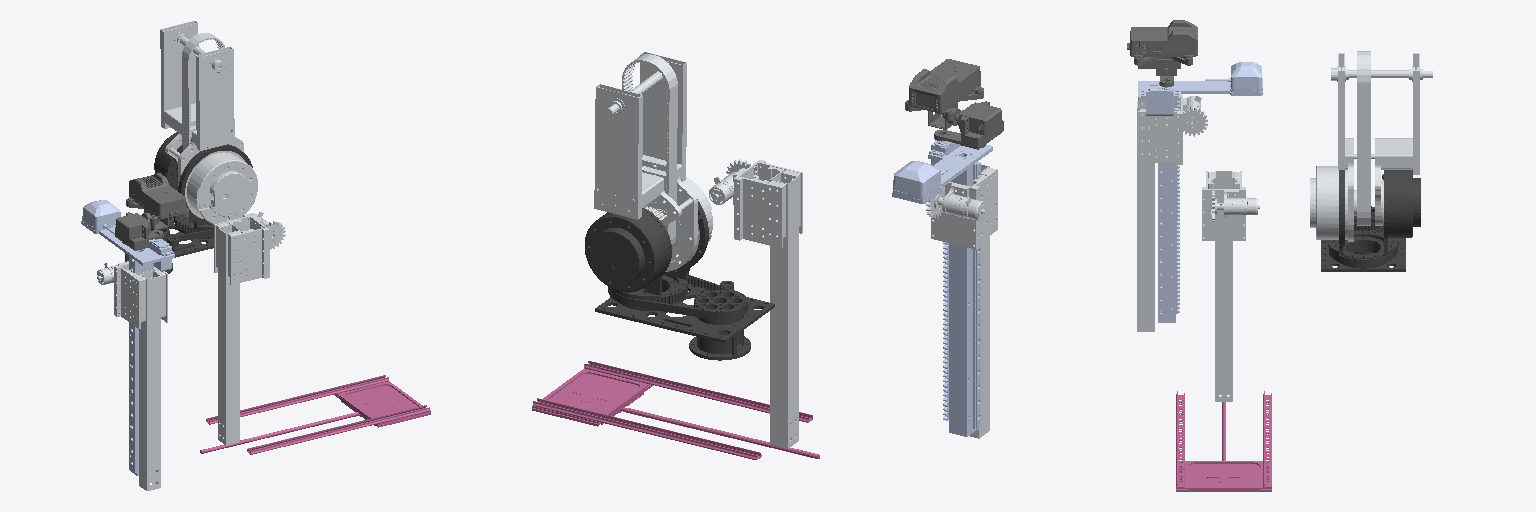
--- Render facts (derived) ---
Views: 3 orthographic renders of the robot side by side, from view 1: azimuth 30°, elevation 25°; view 2: azimuth 150°, elevation 25°; view 3: azimuth 270°, elevation 25°.
Robot: engineer — 81 links, 80 joints (9 revolute, 64 continuous, 2 prismatic, 5 fixed); root link base_link; default pose: all joints at 0.
Visible links, largest first — view 1: link2, base_link, fpv_base_link, swiping_card, mast, fpv_pitch, link1, fpv_yaw, arm_base_link; view 2: link2, base_link, mast, swiping_card, link1, arm_base_link, fpv_base_link, fpv_pitch, fpv_yaw; view 3: link2, mast, fpv_base_link, base_link, swiping_card, link1, fpv_pitch, arm_base_link.
Boxes of the visible links, x1,y1,x2,y2 form: link2: (160,21,257,223); base_link: (214,212,285,445); fpv_base_link: (97,261,167,490); swiping_card: (200,375,430,454); mast: (81,200,174,475); fpv_pitch: (126,173,188,229); link1: (154,132,252,232); fpv_yaw: (115,212,163,250); arm_base_link: (125,217,213,273); link2: (594,52,712,271); base_link: (709,159,802,448); mast: (892,140,992,436); swiping_card: (532,361,819,459); link1: (585,199,708,303); arm_base_link: (595,275,774,360); fpv_base_link: (926,164,997,438); fpv_pitch: (905,59,983,129); fpv_yaw: (934,101,1003,149); link2: (1310,51,1432,241); mast: (1138,62,1262,322); fpv_base_link: (1137,95,1207,331); base_link: (1202,171,1259,401); swiping_card: (1176,391,1271,491); link1: (1328,170,1420,258); fpv_pitch: (1127,20,1197,75); arm_base_link: (1321,206,1405,271).
Size in the robot's own frame: 0.5608 by 0.4339 by 0.5853 metres.
9 mesh visuals loaded from 13 distinct referenced files (8 binary STL); not drawn: 7 (reference not matched to a file when rendering).

URDF robot description (engineer):
<?xml version="1.0" ?>
<!-- =================================================================================== -->
<!-- |    This document was autogenerated by xacro from [local-path]/catkin_ws/src/sp_description/urdf/engineer/engineer.xacro | -->
<!-- |    EDITING THIS FILE BY HAND IS NOT RECOMMENDED                                 | -->
<!-- =================================================================================== -->
<robot name="engineer">
    <transmission name="trans_joint1">
        <type>transmission_interface/SimpleTransmission</type>
        <actuator name="joint1_motor">
            <mechanicalReduction>1</mechanicalReduction>
            <hardwareInterface>hardware_interface/PositionJointInterface</hardwareInterface>
        </actuator>
        <joint name="joint1">
            <hardwareInterface>hardware_interface/PositionJointInterface</hardwareInterface>
        </joint>
    </transmission>
    <transmission name="trans_joint2">
        <type>transmission_interface/SimpleTransmission</type>
        <actuator name="joint2_motor">
            <mechanicalReduction>1</mechanicalReduction>
            <hardwareInterface>hardware_interface/PositionJointInterface</hardwareInterface>
        </actuator>
        <joint name="joint2">
            <hardwareInterface>hardware_interface/PositionJointInterface</hardwareInterface>
        </joint>
    </transmission>
    <transmission name="trans_joint3">
        <type>transmission_interface/SimpleTransmission</type>
        <actuator name="joint3_motor">
            <mechanicalReduction>1</mechanicalReduction>
            <hardwareInterface>hardware_interface/PositionJointInterface</hardwareInterface>
        </actuator>
        <joint name="joint3">
            <hardwareInterface>hardware_interface/PositionJointInterface</hardwareInterface>
        </joint>
    </transmission>
    <!--base link-->
    <link name="base_link">
        <inertial>
            <origin rpy="0 0 0" xyz="-0.0113738412352606 -0.0179737884364999 0.0629667320671845" />
            <mass value="12.478309558197" />
            <inertia ixx="0.0306729834251133" ixy="2.06989089203648E-05" ixz="-4.24062281514238E-06" iyy="0.0340671825531538" iyz="-3.89196837584769E-05" izz="0.0558921594392679" />
        </inertial>
        <visual>
            <origin rpy="0 0 0" xyz="0 0 0" />
            <geometry>
                <mesh filename="package://sp_description/meshes/engineer_chassis/base_link.STL" />
            </geometry>
            <material name="">
                <color rgba="0.898039215686275 0.917647058823529 0.929411764705882 1" />
            </material>
        </visual>
        <collision>
            <origin rpy="0 0 0" xyz="0 0 0" />
            <geometry>
                <box size="0.6 0.6 0.15" />
            </geometry>
        </collision>
        <collision>
            <origin rpy="0 0 0" xyz="0.2375 0.0 0.11" />
            <geometry>
                <box size="0.125 0.6 0.07" />
            </geometry>
        </collision>
        <collision>
            <origin rpy="0 0 0" xyz="-0.205 0.0 0.11" />
            <geometry>
                <box size="0.19 0.6 0.07" />
            </geometry>
        </collision>
        <collision>
            <origin rpy="0 0 0" xyz="0.0325 0.1965 0.13" />
            <geometry>
                <box size="0.285 0.207 0.11" />
            </geometry>
        </collision>
        <collision>
            <origin rpy="0 0 0" xyz="0.0325 -0.2135 0.13" />
            <geometry>
                <box size="0.285 0.173 0.11" />
            </geometry>
        </collision>
        <collision>
            <origin rpy="0 0 0" xyz="0.0 0.2 0.21" />
            <geometry>
                <box size="0.23 0.12 0.05" />
            </geometry>
        </collision>
        <collision>
            <origin rpy="0 0 0" xyz="0.0 -0.1895 0.235" />
            <geometry>
                <box size="0.32 0.125 0.1" />
            </geometry>
        </collision>
        <collision>
            <origin rpy="0 0 0" xyz="0.0 0.098 0.25" />
            <geometry>
                <box rpy="0 0 0" size="0.19 0.01 0.13" />
            </geometry>
        </collision>
        <collision>
            <origin rpy="0 0 0" xyz="0.0 -0.132 0.3" />
            <geometry>
                <box size="0.19 0.01 0.03" />
            </geometry>
        </collision>
    </link>
    <!--  link  -->
    <link name="left_front_wheel">
        <visual>
            <geometry>
                <mesh filename="package://sp_description/meshes/common/mecanum_wheel/right_threaded_mecanum_wheel.stl" scale="0.001 0.001 0.001" />
            </geometry>
        </visual>
        <inertial>
            <mass value="0.59" />
            <inertia ixx="1.416e-3" ixy="0.0" ixz="0.0" iyy="2.749e-3" iyz="0.0" izz="1.416e-3" />
        </inertial>
    </link>
    <!--  joint  -->
    <joint name="left_front_wheel_joint" type="revolute">
        <axis xyz="0 1 0" />
        <origin rpy="0 0 0" xyz="0.19727 0.223 -0.00111" />
        <!--      limit not work while type="continuous"-->
        <limit effort="10" lower="-1e9" upper="1e9" velocity="70" />
        <dynamics damping="0.0" friction="0.05" />
        <parent link="base_link" />
        <child link="left_front_wheel" />
    </joint>
    <!--  link  -->
    <link name="left_front_roller_0">
        <collision>
            <geometry>
                <sphere radius="0.009" />
            </geometry>
        </collision>
        <inertial>
            <mass value="0.036" />
            <inertia ixx="3128e-9" ixy="0.0" ixz="0.0" iyy="3128e-9" iyz="0.0" izz="3128e-9" />
            <origin xyz="0 0 0" rpy="0 0 0" />
        </inertial>
    </link>
    <joint name="left_front_roller_0_joint" type="continuous">
        <origin rpy="0 0 0" xyz="4.117874862132975e-18 0 -0.06725" />
        <axis xyz="0.7071067811865476 -0.7071067811865476 0.0" />
        <dynamics damping="0.0" friction="0.001" />
        <parent link="left_front_wheel" />
        <child link="left_front_roller_0" />
    </joint>
    <gazebo reference="left_front_roller_0">
        <mu1 value="2000.0" />
        <mu2 value="2000.0" />
        <kp value="1000000.0" />
        <kd value="100.0" />
        <material>Gazebo/Black</material>
        <plugin name="gazebo_ros_control">
            <robotNamespace>/</robotNamespace>
        </plugin>
    </gazebo>
    <!--  link  -->
    <link name="left_front_roller_1">
        <collision>
            <geometry>
                <sphere radius="0.009" />
            </geometry>
        </collision>
        <inertial>
            <mass value="0.036" />
            <inertia ixx="3128e-9" ixy="0.0" ixz="0.0" iyy="3128e-9" iyz="0.0" izz="3128e-9" />
            <origin xyz="0 0 0" rpy="0 0 0" />
        </inertial>
    </link>
    <joint name="left_front_roller_1_joint" type="continuous">
        <origin rpy="0 0 0" xyz="0.025754155985525513 0 -0.06212315147731336" />
        <axis xyz="0.653200024955946 -0.7071067811865476 0.27079462217250855" />
        <dynamics damping="0.0" friction="0.001" />
        <parent link="left_front_wheel" />
        <child link="left_front_roller_1" />
    </joint>
    <gazebo reference="left_front_roller_1">
        <mu1 value="2000.0" />
        <mu2 value="2000.0" />
        <kp value="1000000.0" />
        <kd value="100.0" />
        <material>Gazebo/Black</material>
    </gazebo>
    <!--  link  -->
    <link name="left_front_roller_2">
        <collision>
            <geometry>
                <sphere radius="0.009" />
            </geometry>
        </collision>
        <inertial>
            <mass value="0.036" />
            <inertia ixx="3128e-9" ixy="0.0" ixz="0.0" iyy="3128e-9" iyz="0.0" izz="3128e-9" />
            <origin xyz="0 0 0" rpy="0 0 0" />
        </inertial>
    </link>
    <joint name="left_front_roller_2_joint" type="continuous">
        <origin rpy="0 0 0" xyz="0.04758154151551398 0 -0.04752430333005861" />
        <axis xyz="0.49969899116506866 -0.7071067811865476 0.5003008277312888" />
        <dynamics damping="0.0" friction="0.001" />
        <parent link="left_front_wheel" />
        <child link="left_front_roller_2" />
    </joint>
    <gazebo reference="left_front_roller_2">
        <mu1 value="2000.0" />
        <mu2 value="2000.0" />
        <kp value="1000000.0" />
        <kd value="100.0" />
        <material>Gazebo/Black</material>
    </gazebo>
    <!--  link  -->
    <link name="left_front_roller_3">
        <collision>
            <geometry>
                <sphere radius="0.009" />
            </geometry>
        </collision>
        <inertial>
            <mass value="0.036" />
            <inertia ixx="3128e-9" ixy="0.0" ixz="0.0" iyy="3128e-9" iyz="0.0" izz="3128e-9" />
            <origin xyz="0 0 0" rpy="0 0 0" />
        </inertial>
    </link>
    <joint name="left_front_roller_3_joint" type="continuous">
        <origin rpy="0 0 0" xyz="0.062154106054395655 0 -0.02567936137404779" />
        <axis xyz="0.2700081868271984 -0.7071067811865476 0.6535254999204613" />
        <dynamics damping="0.0" friction="0.001" />
        <parent link="left_front_wheel" />
        <child link="left_front_roller_3" />
    </joint>
    <gazebo reference="left_front_roller_3">
        <mu1 value="2000.0" />
        <mu2 value="2000.0" />
        <kp value="1000000.0" />
        <kd value="100.0" />
        <material>Gazebo/Black</material>
    </gazebo>
    <!--  link  -->
    <link name="left_front_roller_4">
        <collision>
            <geometry>
                <sphere radius="0.009" />
            </geometry>
        </collision>
        <inertial>
            <mass value="0.036" />
            <inertia ixx="3128e-9" ixy="0.0" ixz="0.0" iyy="3128e-9" iyz="0.0" izz="3128e-9" />
            <origin xyz="0 0 0" rpy="0 0 0" />
        </inertial>
    </link>
    <joint name="left_front_roller_4_joint" type="continuous">
        <origin rpy="0 0 0" xyz="0.06724995128312455 0 8.094700349681064e-05" />
        <axis xyz="-0.0008511252801386329 -0.7071067811865476 0.7071062689481388" />
        <dynamics damping="0.0" friction="0.001" />
        <parent link="left_front_wheel" />
        <child link="left_front_roller_4" />
    </joint>
    <gazebo reference="left_front_roller_4">
        <mu1 value="2000.0" />
        <mu2 value="2000.0" />
        <kp value="1000000.0" />
        <kd value="100.0" />
        <material>Gazebo/Black</material>
    </gazebo>
    <!--  link  -->
    <link name="left_front_roller_5">
        <collision>
            <geometry>
                <sphere radius="0.009" />
            </geometry>
        </collision>
        <inertial>
            <mass value="0.036" />
            <inertia ixx="3128e-9" ixy="0.0" ixz="0.0" iyy="3128e-9" iyz="0.0" izz="3128e-9" />
            <origin xyz="0 0 0" rpy="0 0 0" />
        </inertial>
    </link>
    <joint name="left_front_roller_5_joint" type="continuous">
        <origin rpy="0 0 0" xyz="0.06209210689440703 0 0.025828913283634913" />
        <axis xyz="-0.27158066518271434 -0.7071067811865476 0.6528736036162853" />
        <dynamics damping="0.0" friction="0.001" />
        <parent link="left_front_wheel" />
        <child link="left_front_roller_5" />
    </joint>
    <gazebo reference="left_front_roller_5">
        <mu1 value="2000.0" />
        <mu2 value="2000.0" />
        <kp value="1000000.0" />
        <kd value="100.0" />
        <material>Gazebo/Black</material>
    </gazebo>
    <!--  link  -->
    <link name="left_front_roller_6">
        <collision>
            <geometry>
                <sphere radius="0.009" />
            </geometry>
        </collision>
        <inertial>
            <mass value="0.036" />
            <inertia ixx="3128e-9" ixy="0.0" ixz="0.0" iyy="3128e-9" iyz="0.0" izz="3128e-9" />
            <origin xyz="0 0 0" rpy="0 0 0" />
        </inertial>
    </link>
    <joint name="left_front_roller_6_joint" type="continuous">
        <origin rpy="0 0 0" xyz="0.04746699629001391 0 0.04763871076345167" />
        <axis xyz="-0.5009019394471561 -0.7071067811865476 0.499096430620454" />
        <dynamics damping="0.0" friction="0.001" />
        <parent link="left_front_wheel" />
        <child link="left_front_roller_6" />
    </joint>
    <gazebo reference="left_front_roller_6">
        <mu1 value="2000.0" />
        <mu2 value="2000.0" />
        <kp value="1000000.0" />
        <kd value="100.0" />
        <material>Gazebo/Black</material>
    </gazebo>
    <!--  link  -->
    <link name="left_front_roller_7">
        <collision>
            <geometry>
                <sphere radius="0.009" />
            </geometry>
        </collision>
        <inertial>
            <mass value="0.036" />
            <inertia ixx="3128e-9" ixy="0.0" ixz="0.0" iyy="3128e-9" iyz="0.0" izz="3128e-9" />
            <origin xyz="0 0 0" rpy="0 0 0" />
        </inertial>
    </link>
    <joint name="left_front_roller_7_joint" type="continuous">
        <origin rpy="0 0 0" xyz="0.02560452955756635 0 0.06218497058080603" />
        <axis xyz="-0.6538500280382736 -0.7071067811865476 0.2692213602861942" />
        <dynamics damping="0.0" friction="0.001" />
        <parent link="left_front_wheel" />
        <child link="left_front_roller_7" />
    </joint>
    <gazebo reference="left_front_roller_7">
        <mu1 value="2000.0" />
        <mu2 value="2000.0" />
        <kp value="1000000.0" />
        <kd value="100.0" />
        <material>Gazebo/Black</material>
    </gazebo>
    <!--  link  -->
    <link name="left_front_roller_8">
        <collision>
            <geometry>
                <sphere radius="0.009" />
            </geometry>
        </collision>
        <inertial>
            <mass value="0.036" />
            <inertia ixx="3128e-9" ixy="0.0" ixz="0.0" iyy="3128e-9" iyz="0.0" izz="3128e-9" />
            <origin xyz="0 0 0" rpy="0 0 0" />
        </inertial>
    </link>
    <joint name="left_front_roller_8_joint" type="continuous">
        <origin rpy="0 0 0" xyz="-0.0001618938897152502 0 0.06724980513256877" />
        <axis xyz="-0.7071047322336546 -0.7071067811865476 -0.0017022493271422689" />
        <dynamics damping="0.0" friction="0.001" />
        <parent link="left_front_wheel" />
        <child link="left_front_roller_8" />
    </joint>
    <gazebo reference="left_front_roller_8">
        <mu1 value="2000.0" />
        <mu2 value="2000.0" />
        <kp value="1000000.0" />
        <kd value="100.0" />
        <material>Gazebo/Black</material>
    </gazebo>
    <!--  link  -->
    <link name="left_front_roller_9">
        <collision>
            <geometry>
                <sphere radius="0.009" />
            </geometry>
        </collision>
        <inertial>
            <mass value="0.036" />
            <inertia ixx="3128e-9" ixy="0.0" ixz="0.0" iyy="3128e-9" iyz="0.0" izz="3128e-9" />
            <origin xyz="0 0 0" rpy="0 0 0" />
        </inertial>
    </link>
    <joint name="left_front_roller_9_joint" type="continuous">
        <origin rpy="0 0 0" xyz="-0.025903633160065442 0 0.062060972350654955" />
        <axis xyz="-0.6525462363744081 -0.7071067811865476 -0.2723663147189738" />
        <dynamics damping="0.0" friction="0.001" />
        <parent link="left_front_wheel" />
        <child link="left_front_roller_9" />
    </joint>
    <gazebo reference="left_front_roller_9">
        <mu1 value="2000.0" />
        <mu2 value="2000.0" />
        <kp value="1000000.0" />
        <kd value="100.0" />
        <material>Gazebo/Black</material>
    </gazebo>
    <!--  link  -->
    <link name="left_front_roller_10">
        <collision>
            <geometry>
                <sphere radius="0.009" />
            </geometry>
        </collision>
        <inertial>
            <mass value="0.036" />
            <inertia ixx="3128e-9" ixy="0.0" ixz="0.0" iyy="3128e-9" iyz="0.0" izz="3128e-9" />
            <origin xyz="0 0 0" rpy="0 0 0" />
        </inertial>
    </link>
    <joint name="left_front_roller_10_joint" type="continuous">
        <origin rpy="0 0 0" xyz="-0.04769581099104322 0 0.04740962047840798" />
        <axis xyz="-0.49849314697045194 -0.7071067811865476 -0.5015023254417625" />
        <dynamics damping="0.0" friction="0.001" />
        <parent link="left_front_wheel" />
        <child link="left_front_roller_10" />
    </joint>
    <gazebo reference="left_front_roller_10">
        <mu1 value="2000.0" />
        <mu2 value="2000.0" />
        <kp value="1000000.0" />
        <kd value="100.0" />
        <material>Gazebo/Black</material>
    </gazebo>
    <!--  link  -->
    <link name="left_front_roller_11">
        <collision>
            <geometry>
                <sphere radius="0.009" />
            </geometry>
        </collision>
        <inertial>
            <mass value="0.036" />
            <inertia ixx="3128e-9" ixy="0.0" ixz="0.0" iyy="3128e-9" iyz="0.0" izz="3128e-9" />
            <origin xyz="0 0 0" rpy="0 0 0" />
        </inertial>
    </link>
    <joint name="left_front_roller_11_joint" type="continuous">
        <origin rpy="0 0 0" xyz="-0.06221574501182705 0 0.02552966064449972" />
        <axis xyz="-0.2684341436894733 -0.7071067811865476 -0.6541736088391974" />
        <dynamics damping="0.0" friction="0.001" />
        <parent link="left_front_wheel" />
        <child link="left_front_roller_11" />
    </joint>
    <gazebo reference="left_front_roller_11">
        <mu1 value="2000.0" />
        <mu2 value="2000.0" />
        <kp value="1000000.0" />
        <kd value="100.0" />
        <material>Gazebo/Black</material>
    </gazebo>
    <!--  link  -->
    <link name="left_front_roller_12">
        <collision>
            <geometry>
                <sphere radius="0.009" />
            </geometry>
        </collision>
        <inertial>
            <mass value="0.036" />
            <inertia ixx="3128e-9" ixy="0.0" ixz="0.0" iyy="3128e-9" iyz="0.0" izz="3128e-9" />
            <origin xyz="0 0 0" rpy="0 0 0" />
        </inertial>
    </link>
    <joint name="left_front_roller_12_joint" type="continuous">
        <origin rpy="0 0 0" xyz="-0.06724956154854442 0 -0.00024284054137712588" />
        <axis xyz="0.002553370907877698 -0.7071067811865476 -0.7071021710453214" />
        <dynamics damping="0.0" friction="0.001" />
        <parent link="left_front_wheel" />
        <child link="left_front_roller_12" />
    </joint>
    <gazebo reference="left_front_roller_12">
        <mu1 value="2000.0" />
        <mu2 value="2000.0" />
        <kp value="1000000.0" />
        <kd value="100.0" />
        <material>Gazebo/Black</material>
    </gazebo>
    <!--  link  -->
    <link name="left_front_roller_13">
        <collision>
            <geometry>
                <sphere radius="0.009" />
            </geometry>
        </collision>
        <inertial>
            <mass value="0.036" />
            <inertia ixx="3128e-9" ixy="0.0" ixz="0.0" iyy="3128e-9" iyz="0.0" izz="3128e-9" />
            <origin xyz="0 0 0" rpy="0 0 0" />
        </inertial>
    </link>
    <joint name="left_front_roller_13_joint" type="continuous">
        <origin rpy="0 0 0" xyz="-0.062029747891165755 0 -0.025978315506560806" />
        <axis xyz="0.2731515696430154 -0.7071067811865476 -0.6522179237046135" />
        <dynamics damping="0.0" friction="0.001" />
        <parent link="left_front_wheel" />
        <child link="left_front_roller_13" />
    </joint>
    <gazebo reference="left_front_roller_13">
        <mu1 value="2000.0" />
        <mu2 value="2000.0" />
        <kp value="1000000.0" />
        <kd value="100.0" />
        <material>Gazebo/Black</material>
    </gazebo>
    <!--  link  -->
    <link name="left_front_roller_14">
        <collision>
            <geometry>
                <sphere radius="0.009" />
            </geometry>
        </collision>
        <inertial>
            <mass value="0.036" />
            <inertia ixx="3128e-9" ixy="0.0" ixz="0.0" iyy="3128e-9" iyz="0.0" izz="3128e-9" />
            <origin xyz="0 0 0" rpy="0 0 0" />
        </inertial>
    </link>
    <joint name="left_front_roller_14_joint" type="continuous">
        <origin rpy="0 0 0" xyz="-0.047352175978368535 0 -0.04775284211556018" />
        <axis xyz="0.5021019848452515 -0.7071067811865476 -0.49788914108911725" />
        <dynamics damping="0.0" friction="0.001" />
        <parent link="left_front_wheel" />
        <child link="left_front_roller_14" />
    </joint>
    <gazebo reference="left_front_roller_14">
        <mu1 value="2000.0" />
        <mu2 value="2000.0" />
        <kp value="1000000.0" />
        <kd value="100.0" />
        <material>Gazebo/Black</material>
    </gazebo>
    <!--  link  -->
    <link name="left_front_roller_15">
        <collision>
            <geometry>
                <sphere radius="0.009" />
            </geometry>
        </collision>
        <inertial>
            <mass value="0.036" />
            <inertia ixx="3128e-9" ixy="0.0" ixz="0.0" iyy="3128e-9" iyz="0.0" izz="3128e-9" />
            <origin xyz="0 0 0" rpy="0 0 0" />
        </inertial>
    </link>
    <joint name="left_front_roller_15_joint" type="continuous">
        <origin rpy="0 0 0" xyz="-0.025454754743320145 0 -0.06224642930287183" />
        <axis xyz="0.6544962418544192 -0.7071067811865476 -0.2676465381775779" />
        <dynamics damping="0.0" friction="0.001" />
        <parent link="left_front_wheel" />
        <child link="left_front_roller_15" />
    </joint>
    <gazebo reference="left_front_roller_15">
        <mu1 value="2000.0" />
        <mu2 value="2000.0" />
        <kp value="1000000.0" />
        <kd value="100.0" />
        <material>Gazebo/Black</material>
    </gazebo>
    <!--  link  -->
    <link name="right_front_wheel">
        <visual>
            <geometry>
                <mesh filename="package://sp_description/meshes/common/mecanum_wheel/left_threaded_mecanum_wheel.stl" scale="0.001 0.001 0.001" />
            </geometry>
        </visual>
        <inertial>
            <mass value="0.59" />
            <inertia ixx="1.416e-3" ixy="0.0" ixz="0.0" iyy="2.749e-3" iyz="0.0" izz="1.416e-3" />
        </inertial>
    </link>
    <!--  joint  -->
    <joint name="right_front_wheel_joint" type="revolute">
        <axis xyz="0 1 0" />
        <origin rpy="0 0 0" xyz="0.19727 -0.223 -0.00111" />
        <!--      limit not work while type="continuous"-->
        <limit effort="10" lower="-1e9" upper="1e9" velocity="70" />
        <dynamics damping="0.0" friction="0.05" />
        <parent link="base_link" />
        <child link="right_front_wheel" />
    </joint>
    <!--  link  -->
    <link name="right_front_roller_0">
        <collision>
            <geometry>
                <sphere radius="0.009" />
            </geometry>
        </collision>
        <inertial>
            <mass value="0.036" />
            <inertia ixx="3128e-9" ixy="0.0" ixz="0.0" iyy="3128e-9" iyz="0.0" izz="3128e-9" />
            <origin xyz="0 0 0" rpy="0 0 0" />
        </inertial>
    </link>
    <joint name="right_front_roller_0_joint" type="continuous">
        <origin rpy="0 0 0" xyz="4.117874862132975e-18 0 -0.06725" />
        <axis xyz="0.7071067811865476 0.7071067811865476 0.0" />
        <dynamics damping="0.0" friction="0.001" />
        <parent link="right_front_wheel" />
        <child link="right_front_roller_0" />
    </joint>
    <gazebo reference="right_front_roller_0">
        <mu1 value="2000.0" />
        <mu2 value="2000.0" />
        <kp value="1000000.0" />
        <kd value="100.0" />
        <material>Gazebo/Black</material>
    </gazebo>
    <!--  link  -->
    <link name="right_front_roller_1">
        <collision>
            <geometry>
                <sphere radius="0.009" />
            </geometry>
        </collision>
        <inertial>
            <mass value="0.036" />
            <inertia ixx="3128e-9" ixy="0.0" ixz="0.0" iyy="3128e-9" iyz="0.0" izz="3128e-9" />
            <origin xyz="0 0 0" rpy="0 0 0" />
        </inertial>
    </link>
    <joint name="right_front_roller_1_joint" type="continuous">
        <origin rpy="0 0 0" xyz="0.025754155985525513 0 -0.06212315147731336" />
        <axis xyz="0.653200024955946 0.7071067811865476 0.27079462217250855" />
        <dynamics damping="0.0" friction="0.001" />
        <parent link="right_front_wheel" />
        <child link="right_front_roller_1" />
    </joint>
    <gazebo reference="right_front_roller_1">
        <mu1 value="2000.0" />
        <mu2 value="2000.0" />
        <kp value="1000000.0" />
        <kd value="100.0" />
        <material>Gazebo/Black</material>
    </gazebo>
    <!--  link  -->
    <link name="right_front_roller_2">
        <collision>
            <geometry>
                <sphere radius="0.009" />
            </geometry>
        </collision>
        <inertial>
            <mass value="0.036" />
            <inertia ixx="3128e-9" ixy="0.0" ixz="0.0" iyy="3128e-9" iyz="0.0" izz="3128e-9" />
            <origin xyz="0 0 0" rpy="0 0 0" />
        </inertial>
    </link>
    <joint name="right_front_roller_2_joint" type="continuous">
        <origin rpy="0 0 0" xyz="0.04758154151551398 0 -0.04752430333005861" />
        <axis xyz="0.49969899116506866 0.7071067811865476 0.5003008277312888" />
        <dynamics damping="0.0" friction="0.001" />
        <parent link="right_front_wheel" />
        <child link="right_front_roller_2" />
    </joint>
    <gazebo reference="right_front_roller_2">
        <mu1 value="2000.0" />
        <mu2 value="2000.0" />
        <kp value="1000000.0" />
        <kd value="100.0" />
        <material>Gazebo/Black</material>
    </gazebo>
    <!--  link  -->
    <link name="right_front_roller_3">
        <collision>
            <geometry>
                <sphere radius="0.009" />
            </geometry>
        </collision>
        <inertial>
            <mass value="0.036" />
            <inertia ixx="3128e-9" ixy="0.0" ixz="0.0" iyy="3128e-9" iyz="0.0" izz="3128e-9" />
            <origin xyz="0 0 0" rpy="0 0 0" />
        </inertial>
    </link>
    <joint name="right_front_roller_3_joint" type="continuous">
        <origin rpy="0 0 0" xyz="0.062154106054395655 0 -0.02567936137404779" />
        <axis xyz="0.2700081868271984 0.7071067811865476 0.6535254999204613" />
        <dynamics damping="0.0" friction="0.001" />
        <parent link="right_front_wheel" />
        <child link="right_front_roller_3" />
    </joint>
    <gazebo reference="right_front_roller_3">
        <mu1 value="2000.0" />
        <mu2 value="2000.0" />
        <kp value="1000000.0" />
        <kd value="100.0" />
        <material>Gazebo/Black</material>
    </gazebo>
    <!--  link  -->
    <link name="right_front_roller_4">
        <collision>
            <geometry>
                <sphere radius="0.009" />
            </geometry>
        </collision>
        <inertial>
            <mass value="0.036" />
            <inertia ixx="3128e-9" ixy="0.0" ixz="0.0" iyy="3128e-9" iyz="0.0" izz="3128e-9" />
            <origin xyz="0 0 0" rpy="0 0 0" />
        </inertial>
    </link>
    <joint name="right_front_roller_4_joint" type="continuous">
        <origin rpy="0 0 0" xyz="0.06724995128312455 0 8.094700349681064e-05" />
        <axis xyz="-0.0008511252801386329 0.7071067811865476 0.7071062689481388" />
        <dynamics damping="0.0" friction="0.001" />
        <parent link="right_front_wheel" />
        <child link="right_front_roller_4" />
    </joint>
    <gazebo reference="right_front_roller_4">
        <mu1 value="2000.0" />
        <mu2 value="2000.0" />
        <kp value="1000000.0" />
        <kd value="100.0" />
        <material>Gazebo/Black</material>
    </gazebo>
    <!--  link  -->
    <link name="right_front_roller_5">
        <collision>
            <geometry>
                <sphere radius="0.009" />
            </geometry>
        </collision>
        <inertial>
            <mass value="0.036" />
            <inertia ixx="3128e-9" ixy="0.0" ixz="0.0" iyy="3128e-9" iyz="0.0" izz="3128e-9" />
            <origin xyz="0 0 0" rpy="0 0 0" />
        </inertial>
    </link>
    <joint name="right_front_roller_5_joint" type="continuous">
        <origin rpy="0 0 0" xyz="0.06209210689440703 0 0.025828913283634913" />
        <axis xyz="-0.27158066518271434 0.7071067811865476 0.6528736036162853" />
        <dynamics damping="0.0" friction="0.001" />
        <parent link="right_front_wheel" />
        <child link="right_front_roller_5" />
    </joint>
    <gazebo reference="right_front_roller_5">
        <mu1 value="2000.0" />
        <mu2 value="2000.0" />
        <kp value="1000000.0" />
        <kd value="100.0" />
        <material>Gazebo/Black</material>
    </gazebo>
    <!--  link  -->
    <link name="right_front_roller_6">
        <collision>
            <geometry>
                <sphere radius="0.009" />
            </geometry>
        </collision>
        <inertial>
            <mass value="0.036" />
            <inertia ixx="3128e-9" ixy="0.0" ixz="0.0" iyy="3128e-9" iyz="0.0" izz="3128e-9" />
            <origin xyz="0 0 0" rpy="0 0 0" />
        </inertial>
    </link>
    <joint name="right_front_roller_6_joint" type="continuous">
        <origin rpy="0 0 0" xyz="0.04746699629001391 0 0.04763871076345167" />
        <axis xyz="-0.5009019394471561 0.7071067811865476 0.499096430620454" />
        <dynamics damping="0.0" friction="0.001" />
        <parent link="right_front_wheel" />
        <child link="right_front_roller_6" />
    </joint>
    <gazebo reference="right_front_roller_6">
        <mu1 value="2000.0" />
        <mu2 value="2000.0" />
        <kp value="1000000.0" />
        <kd value="100.0" />
        <material>Gazebo/Black</material>
    </gazebo>
    <!--  link  -->
    <link name="right_front_roller_7">
        <collision>
            <geometry>
                <sphere radius="0.009" />
            </geometry>
        </collision>
        <inertial>
            <mass value="0.036" />
            <inertia ixx="3128e-9" ixy="0.0" ixz="0.0" iyy="3128e-9" iyz="0.0" izz="3128e-9" />
            <origin xyz="0 0 0" rpy="0 0 0" />
        </inertial>
    </link>
    <joint name="right_front_roller_7_joint" type="continuous">
        <origin rpy="0 0 0" xyz="0.02560452955756635 0 0.06218497058080603" />
        <axis xyz="-0.6538500280382736 0.7071067811865476 0.2692213602861942" />
        <dynamics damping="0.0" friction="0.001" />
        <parent link="right_front_wheel" />
        <child link="right_front_roller_7" />
    </joint>
    <gazebo reference="right_front_roller_7">
        <mu1 value="2000.0" />
        <mu2 value="2000.0" />
        <kp value="1000000.0" />
        <kd value="100.0" />
        <material>Gazebo/Black</material>
    </gazebo>
    <!--  link  -->
    <link name="right_front_roller_8">
        <collision>
            <geometry>
                <sphere radius="0.009" />
            </geometry>
        </collision>
        <inertial>
            <mass value="0.036" />
            <inertia ixx="3128e-9" ixy="0.0" ixz="0.0" iyy="3128e-9" iyz="0.0" izz="3128e-9" />
            <origin xyz="0 0 0" rpy="0 0 0" />
        </inertial>
    </link>
    <joint name="right_front_roller_8_joint" type="continuous">
        <origin rpy="0 0 0" xyz="-0.0001618938897152502 0 0.06724980513256877" />
        <axis xyz="-0.7071047322336546 0.7071067811865476 -0.0017022493271422689" />
        <dynamics damping="0.0" friction="0.001" />
        <parent link="right_front_wheel" />
        <child link="right_front_roller_8" />
    </joint>
    <gazebo reference="right_front_roller_8">
        <mu1 value="2000.0" />
        <mu2 value="2000.0" />
        <kp value="1000000.0" />
        <kd value="100.0" />
        <material>Gazebo/Black</material>
    </gazebo>
    <!--  link  -->
    <link name="right_front_roller_9">
        <collision>
            <geometry>
                <sphere radius="0.009" />
            </geometry>
        </collision>
        <inertial>
            <mass value="0.036" />
            <inertia ixx="3128e-9" ixy="0.0" ixz="0.0" iyy="3128e-9" iyz="0.0" izz="3128e-9" />
            <origin xyz="0 0 0" rpy="0 0 0" />
        </inertial>
    </link>
    <joint name="right_front_roller_9_joint" type="continuous">
        <origin rpy="0 0 0" xyz="-0.025903633160065442 0 0.062060972350654955" />
        <axis xyz="-0.6525462363744081 0.7071067811865476 -0.2723663147189738" />
        <dynamics damping="0.0" friction="0.001" />
        <parent link="right_front_wheel" />
        <child link="right_front_roller_9" />
    </joint>
    <gazebo reference="right_front_roller_9">
        <mu1 value="2000.0" />
        <mu2 value="2000.0" />
        <kp value="1000000.0" />
        <kd value="100.0" />
        <material>Gazebo/Black</material>
    </gazebo>
    <!--  link  -->
    <link name="right_front_roller_10">
        <collision>
            <geometry>
                <sphere radius="0.009" />
            </geometry>
        </collision>
        <inertial>
            <mass value="0.036" />
            <inertia ixx="3128e-9" ixy="0.0" ixz="0.0" iyy="3128e-9" iyz="0.0" izz="3128e-9" />
            <origin xyz="0 0 0" rpy="0 0 0" />
        </inertial>
    </link>
    <joint name="right_front_roller_10_joint" type="continuous">
        <origin rpy="0 0 0" xyz="-0.04769581099104322 0 0.04740962047840798" />
        <axis xyz="-0.49849314697045194 0.7071067811865476 -0.5015023254417625" />
        <dynamics damping="0.0" friction="0.001" />
        <parent link="right_front_wheel" />
        <child link="right_front_roller_10" />
    </joint>
    <gazebo reference="right_front_roller_10">
        <mu1 value="2000.0" />
        <mu2 value="2000.0" />
        <kp value="1000000.0" />
        <kd value="100.0" />
        <material>Gazebo/Black</material>
    </gazebo>
    <!--  link  -->
    <link name="right_front_roller_11">
        <collision>
            <geometry>
                <sphere radius="0.009" />
            </geometry>
        </collision>
        <inertial>
            <mass value="0.036" />
            <inertia ixx="3128e-9" ixy="0.0" ixz="0.0" iyy="3128e-9" iyz="0.0" izz="3128e-9" />
            <origin xyz="0 0 0" rpy="0 0 0" />
        </inertial>
    </link>
    <joint name="right_front_roller_11_joint" type="continuous">
        <origin rpy="0 0 0" xyz="-0.06221574501182705 0 0.02552966064449972" />
        <axis xyz="-0.2684341436894733 0.7071067811865476 -0.6541736088391974" />
        <dynamics damping="0.0" friction="0.001" />
        <parent link="right_front_wheel" />
        <child link="right_front_roller_11" />
    </joint>
    <gazebo reference="right_front_roller_11">
        <mu1 value="2000.0" />
        <mu2 value="2000.0" />
        <kp value="1000000.0" />
        <kd value="100.0" />
        <material>Gazebo/Black</material>
    </gazebo>
    <!--  link  -->
    <link name="right_front_roller_12">
        <collision>
            <geometry>
                <sphere radius="0.009" />
            </geometry>
        </collision>
        <inertial>
            <mass value="0.036" />
            <inertia ixx="3128e-9" ixy="0.0" ixz="0.0" iyy="3128e-9" iyz="0.0" izz="3128e-9" />
            <origin xyz="0 0 0" rpy="0 0 0" />
        </inertial>
    </link>
    <joint name="right_front_roller_12_joint" type="continuous">
        <origin rpy="0 0 0" xyz="-0.06724956154854442 0 -0.00024284054137712588" />
        <axis xyz="0.002553370907877698 0.7071067811865476 -0.7071021710453214" />
        <dynamics damping="0.0" friction="0.001" />
        <parent link="right_front_wheel" />
        <child link="right_front_roller_12" />
    </joint>
    <gazebo reference="right_front_roller_12">
        <mu1 value="2000.0" />
        <mu2 value="2000.0" />
        <kp value="1000000.0" />
        <kd value="100.0" />
        <material>Gazebo/Black</material>
    </gazebo>
    <!--  link  -->
    <link name="right_front_roller_13">
        <collision>
            <geometry>
                <sphere radius="0.009" />
            </geometry>
        </collision>
        <inertial>
            <mass value="0.036" />
            <inertia ixx="3128e-9" ixy="0.0" ixz="0.0" iyy="3128e-9" iyz="0.0" izz="3128e-9" />
            <origin xyz="0 0 0" rpy="0 0 0" />
        </inertial>
    </link>
    <joint name="right_front_roller_13_joint" type="continuous">
        <origin rpy="0 0 0" xyz="-0.062029747891165755 0 -0.025978315506560806" />
        <axis xyz="0.2731515696430154 0.7071067811865476 -0.6522179237046135" />
        <dynamics damping="0.0" friction="0.001" />
        <parent link="right_front_wheel" />
        <child link="right_front_roller_13" />
    </joint>
    <gazebo reference="right_front_roller_13">
        <mu1 value="2000.0" />
        <mu2 value="2000.0" />
        <kp value="1000000.0" />
        <kd value="100.0" />
        <material>Gazebo/Black</material>
    </gazebo>
    <!--  link  -->
    <link name="right_front_roller_14">
        <collision>
            <geometry>
                <sphere radius="0.009" />
            </geometry>
        </collision>
        <inertial>
            <mass value="0.036" />
            <inertia ixx="3128e-9" ixy="0.0" ixz="0.0" iyy="3128e-9" iyz="0.0" izz="3128e-9" />
            <origin xyz="0 0 0" rpy="0 0 0" />
        </inertial>
    </link>
    <joint name="right_front_roller_14_joint" type="continuous">
        <origin rpy="0 0 0" xyz="-0.047352175978368535 0 -0.04775284211556018" />
        <axis xyz="0.5021019848452515 0.7071067811865476 -0.49788914108911725" />
        <dynamics damping="0.0" friction="0.001" />
        <parent link="right_front_wheel" />
        <child link="right_front_roller_14" />
    </joint>
    <gazebo reference="right_front_roller_14">
        <mu1 value="2000.0" />
        <mu2 value="2000.0" />
        <kp value="1000000.0" />
        <kd value="100.0" />
        <material>Gazebo/Black</material>
    </gazebo>
    <!--  link  -->
    <link name="right_front_roller_15">
        <collision>
            <geometry>
                <sphere radius="0.009" />
            </geometry>
        </collision>
        <inertial>
            <mass value="0.036" />
            <inertia ixx="3128e-9" ixy="0.0" ixz="0.0" iyy="3128e-9" iyz="0.0" izz="3128e-9" />
            <origin xyz="0 0 0" rpy="0 0 0" />
        </inertial>
    </link>
    <joint name="right_front_roller_15_joint" type="continuous">
        <origin rpy="0 0 0" xyz="-0.025454754743320145 0 -0.06224642930287183" />
        <axis xyz="0.6544962418544192 0.7071067811865476 -0.2676465381775779" />
        <dynamics damping="0.0" friction="0.001" />
        <parent link="right_front_wheel" />
        <child link="right_front_roller_15" />
    </joint>
    <gazebo reference="right_front_roller_15">
        <mu1 value="2000.0" />
        <mu2 value="2000.0" />
        <kp value="1000000.0" />
        <kd value="100.0" />
        <material>Gazebo/Black</material>
    </gazebo>
    <!--  link  -->
    <link name="left_back_wheel">
        <visual>
            <geometry>
                <mesh filename="package://sp_description/meshes/common/mecanum_wheel/left_threaded_mecanum_wheel.stl" scale="0.001 0.001 0.001" />
            </geometry>
        </visual>
        <inertial>
            <mass value="0.59" />
            <inertia ixx="1.416e-3" ixy="0.0" ixz="0.0" iyy="2.749e-3" iyz="0.0" izz="1.416e-3" />
        </inertial>
    </link>
    <!--  joint  -->
    <joint name="left_back_wheel_joint" type="revolute">
        <axis xyz="0 1 0" />
        <origin rpy="0 0 0" xyz="-0.19727 0.223 -0.00111" />
        <!--      limit not work while type="continuous"-->
        <limit effort="10" lower="-1e9" upper="1e9" velocity="70" />
        <dynamics damping="0.0" friction="0.05" />
        <parent link="base_link" />
        <child link="left_back_wheel" />
    </joint>
    <!--  link  -->
    <link name="left_back_roller_0">
        <collision>
            <geometry>
                <sphere radius="0.009" />
            </geometry>
        </collision>
        <inertial>
            <mass value="0.036" />
            <inertia ixx="3128e-9" ixy="0.0" ixz="0.0" iyy="3128e-9" iyz="0.0" izz="3128e-9" />
            <origin xyz="0 0 0" rpy="0 0 0" />
        </inertial>
    </link>
    <joint name="left_back_roller_0_joint" type="continuous">
        <origin rpy="0 0 0" xyz="4.117874862132975e-18 0 -0.06725" />
        <axis xyz="0.7071067811865476 0.7071067811865476 0.0" />
        <dynamics damping="0.0" friction="0.001" />
        <parent link="left_back_wheel" />
        <child link="left_back_roller_0" />
    </joint>
    <gazebo reference="left_back_roller_0">
        <mu1 value="2000.0" />
        <mu2 value="2000.0" />
        <kp value="1000000.0" />
        <kd value="100.0" />
        <material>Gazebo/Black</material>
    </gazebo>
    <!--  link  -->
    <link name="left_back_roller_1">
        <collision>
            <geometry>
                <sphere radius="0.009" />
            </geometry>
        </collision>
        <inertial>
            <mass value="0.036" />
            <inertia ixx="3128e-9" ixy="0.0" ixz="0.0" iyy="3128e-9" iyz="0.0" izz="3128e-9" />
            <origin xyz="0 0 0" rpy="0 0 0" />
        </inertial>
    </link>
    <joint name="left_back_roller_1_joint" type="continuous">
        <origin rpy="0 0 0" xyz="0.025754155985525513 0 -0.06212315147731336" />
        <axis xyz="0.653200024955946 0.7071067811865476 0.27079462217250855" />
        <dynamics damping="0.0" friction="0.001" />
        <parent link="left_back_wheel" />
        <child link="left_back_roller_1" />
    </joint>
    <gazebo reference="left_back_roller_1">
        <mu1 value="2000.0" />
        <mu2 value="2000.0" />
        <kp value="1000000.0" />
        <kd value="100.0" />
        <material>Gazebo/Black</material>
    </gazebo>
    <!--  link  -->
    <link name="left_back_roller_2">
        <collision>
            <geometry>
                <sphere radius="0.009" />
            </geometry>
        </collision>
        <inertial>
            <mass value="0.036" />
            <inertia ixx="3128e-9" ixy="0.0" ixz="0.0" iyy="3128e-9" iyz="0.0" izz="3128e-9" />
            <origin xyz="0 0 0" rpy="0 0 0" />
        </inertial>
    </link>
    <joint name="left_back_roller_2_joint" type="continuous">
        <origin rpy="0 0 0" xyz="0.04758154151551398 0 -0.04752430333005861" />
        <axis xyz="0.49969899116506866 0.7071067811865476 0.5003008277312888" />
        <dynamics damping="0.0" friction="0.001" />
        <parent link="left_back_wheel" />
        <child link="left_back_roller_2" />
    </joint>
    <gazebo reference="left_back_roller_2">
        <mu1 value="2000.0" />
        <mu2 value="2000.0" />
        <kp value="1000000.0" />
        <kd value="100.0" />
        <material>Gazebo/Black</material>
    </gazebo>
    <!--  link  -->
    <link name="left_back_roller_3">
        <collision>
            <geometry>
                <sphere radius="0.009" />
            </geometry>
        </collision>
        <inertial>
            <mass value="0.036" />
            <inertia ixx="3128e-9" ixy="0.0" ixz="0.0" iyy="3128e-9" iyz="0.0" izz="3128e-9" />
            <origin xyz="0 0 0" rpy="0 0 0" />
        </inertial>
    </link>
    <joint name="left_back_roller_3_joint" type="continuous">
        <origin rpy="0 0 0" xyz="0.062154106054395655 0 -0.02567936137404779" />
        <axis xyz="0.2700081868271984 0.7071067811865476 0.6535254999204613" />
        <dynamics damping="0.0" friction="0.001" />
        <parent link="left_back_wheel" />
        <child link="left_back_roller_3" />
    </joint>
    <gazebo reference="left_back_roller_3">
        <mu1 value="2000.0" />
        <mu2 value="2000.0" />
        <kp value="1000000.0" />
        <kd value="100.0" />
        <material>Gazebo/Black</material>
    </gazebo>
    <!--  link  -->
    <link name="left_back_roller_4">
        <collision>
            <geometry>
                <sphere radius="0.009" />
            </geometry>
        </collision>
        <inertial>
            <mass value="0.036" />
            <inertia ixx="3128e-9" ixy="0.0" ixz="0.0" iyy="3128e-9" iyz="0.0" izz="3128e-9" />
            <origin xyz="0 0 0" rpy="0 0 0" />
        </inertial>
    </link>
    <joint name="left_back_roller_4_joint" type="continuous">
        <origin rpy="0 0 0" xyz="0.06724995128312455 0 8.094700349681064e-05" />
        <axis xyz="-0.0008511252801386329 0.7071067811865476 0.7071062689481388" />
        <dynamics damping="0.0" friction="0.001" />
        <parent link="left_back_wheel" />
        <child link="left_back_roller_4" />
    </joint>
    <gazebo reference="left_back_roller_4">
        <mu1 value="2000.0" />
        <mu2 value="2000.0" />
        <kp value="1000000.0" />
        <kd value="100.0" />
        <material>Gazebo/Black</material>
    </gazebo>
    <!--  link  -->
    <link name="left_back_roller_5">
        <collision>
            <geometry>
                <sphere radius="0.009" />
            </geometry>
        </collision>
        <inertial>
            <mass value="0.036" />
            <inertia ixx="3128e-9" ixy="0.0" ixz="0.0" iyy="3128e-9" iyz="0.0" izz="3128e-9" />
            <origin xyz="0 0 0" rpy="0 0 0" />
        </inertial>
    </link>
    <joint name="left_back_roller_5_joint" type="continuous">
        <origin rpy="0 0 0" xyz="0.06209210689440703 0 0.025828913283634913" />
        <axis xyz="-0.27158066518271434 0.7071067811865476 0.6528736036162853" />
        <dynamics damping="0.0" friction="0.001" />
        <parent link="left_back_wheel" />
        <child link="left_back_roller_5" />
    </joint>
    <gazebo reference="left_back_roller_5">
        <mu1 value="2000.0" />
        <mu2 value="2000.0" />
        <kp value="1000000.0" />
        <kd value="100.0" />
        <material>Gazebo/Black</material>
    </gazebo>
    <!--  link  -->
    <link name="left_back_roller_6">
        <collision>
            <geometry>
                <sphere radius="0.009" />
            </geometry>
        </collision>
        <inertial>
            <mass value="0.036" />
            <inertia ixx="3128e-9" ixy="0.0" ixz="0.0" iyy="3128e-9" iyz="0.0" izz="3128e-9" />
            <origin xyz="0 0 0" rpy="0 0 0" />
        </inertial>
    </link>
    <joint name="left_back_roller_6_joint" type="continuous">
        <origin rpy="0 0 0" xyz="0.04746699629001391 0 0.04763871076345167" />
        <axis xyz="-0.5009019394471561 0.7071067811865476 0.499096430620454" />
        <dynamics damping="0.0" friction="0.001" />
        <parent link="left_back_wheel" />
        <child link="left_back_roller_6" />
    </joint>
    <gazebo reference="left_back_roller_6">
        <mu1 value="2000.0" />
        <mu2 value="2000.0" />
        <kp value="1000000.0" />
        <kd value="100.0" />
        <material>Gazebo/Black</material>
    </gazebo>
    <!--  link  -->
    <link name="left_back_roller_7">
        <collision>
            <geometry>
                <sphere radius="0.009" />
            </geometry>
        </collision>
        <inertial>
            <mass value="0.036" />
            <inertia ixx="3128e-9" ixy="0.0" ixz="0.0" iyy="3128e-9" iyz="0.0" izz="3128e-9" />
            <origin xyz="0 0 0" rpy="0 0 0" />
        </inertial>
    </link>
    <joint name="left_back_roller_7_joint" type="continuous">
        <origin rpy="0 0 0" xyz="0.02560452955756635 0 0.06218497058080603" />
        <axis xyz="-0.6538500280382736 0.7071067811865476 0.2692213602861942" />
        <dynamics damping="0.0" friction="0.001" />
        <parent link="left_back_wheel" />
        <child link="left_back_roller_7" />
    </joint>
    <gazebo reference="left_back_roller_7">
        <mu1 value="2000.0" />
        <mu2 value="2000.0" />
        <kp value="1000000.0" />
        <kd value="100.0" />
        <material>Gazebo/Black</material>
    </gazebo>
    <!--  link  -->
    <link name="left_back_roller_8">
        <collision>
            <geometry>
                <sphere radius="0.009" />
            </geometry>
        </collision>
        <inertial>
            <mass value="0.036" />
            <inertia ixx="3128e-9" ixy="0.0" ixz="0.0" iyy="3128e-9" iyz="0.0" izz="3128e-9" />
            <origin xyz="0 0 0" rpy="0 0 0" />
        </inertial>
    </link>
    <joint name="left_back_roller_8_joint" type="continuous">
        <origin rpy="0 0 0" xyz="-0.0001618938897152502 0 0.06724980513256877" />
        <axis xyz="-0.7071047322336546 0.7071067811865476 -0.0017022493271422689" />
        <dynamics damping="0.0" friction="0.001" />
        <parent link="left_back_wheel" />
        <child link="left_back_roller_8" />
    </joint>
    <gazebo reference="left_back_roller_8">
        <mu1 value="2000.0" />
        <mu2 value="2000.0" />
        <kp value="1000000.0" />
        <kd value="100.0" />
        <material>Gazebo/Black</material>
    </gazebo>
    <!--  link  -->
    <link name="left_back_roller_9">
        <collision>
            <geometry>
                <sphere radius="0.009" />
            </geometry>
        </collision>
        <inertial>
            <mass value="0.036" />
            <inertia ixx="3128e-9" ixy="0.0" ixz="0.0" iyy="3128e-9" iyz="0.0" izz="3128e-9" />
            <origin xyz="0 0 0" rpy="0 0 0" />
        </inertial>
    </link>
    <joint name="left_back_roller_9_joint" type="continuous">
        <origin rpy="0 0 0" xyz="-0.025903633160065442 0 0.062060972350654955" />
        <axis xyz="-0.6525462363744081 0.7071067811865476 -0.2723663147189738" />
        <dynamics damping="0.0" friction="0.001" />
        <parent link="left_back_wheel" />
        <child link="left_back_roller_9" />
    </joint>
    <gazebo reference="left_back_roller_9">
        <mu1 value="2000.0" />
        <mu2 value="2000.0" />
        <kp value="1000000.0" />
        <kd value="100.0" />
        <material>Gazebo/Black</material>
    </gazebo>
    <!--  link  -->
    <link name="left_back_roller_10">
        <collision>
            <geometry>
                <sphere radius="0.009" />
            </geometry>
        </collision>
        <inertial>
            <mass value="0.036" />
            <inertia ixx="3128e-9" ixy="0.0" ixz="0.0" iyy="3128e-9" iyz="0.0" izz="3128e-9" />
            <origin xyz="0 0 0" rpy="0 0 0" />
        </inertial>
    </link>
    <joint name="left_back_roller_10_joint" type="continuous">
        <origin rpy="0 0 0" xyz="-0.04769581099104322 0 0.04740962047840798" />
        <axis xyz="-0.49849314697045194 0.7071067811865476 -0.5015023254417625" />
        <dynamics damping="0.0" friction="0.001" />
        <parent link="left_back_wheel" />
        <child link="left_back_roller_10" />
    </joint>
    <gazebo reference="left_back_roller_10">
        <mu1 value="2000.0" />
        <mu2 value="2000.0" />
        <kp value="1000000.0" />
        <kd value="100.0" />
        <material>Gazebo/Black</material>
    </gazebo>
    <!--  link  -->
    <link name="left_back_roller_11">
        <collision>
            <geometry>
                <sphere radius="0.009" />
            </geometry>
        </collision>
        <inertial>
            <mass value="0.036" />
            <inertia ixx="3128e-9" ixy="0.0" ixz="0.0" iyy="3128e-9" iyz="0.0" izz="3128e-9" />
            <origin xyz="0 0 0" rpy="0 0 0" />
        </inertial>
    </link>
    <joint name="left_back_roller_11_joint" type="continuous">
        <origin rpy="0 0 0" xyz="-0.06221574501182705 0 0.02552966064449972" />
        <axis xyz="-0.2684341436894733 0.7071067811865476 -0.6541736088391974" />
        <dynamics damping="0.0" friction="0.001" />
        <parent link="left_back_wheel" />
        <child link="left_back_roller_11" />
    </joint>
    <gazebo reference="left_back_roller_11">
        <mu1 value="2000.0" />
        <mu2 value="2000.0" />
        <kp value="1000000.0" />
        <kd value="100.0" />
        <material>Gazebo/Black</material>
    </gazebo>
    <!--  link  -->
    <link name="left_back_roller_12">
        <collision>
            <geometry>
                <sphere radius="0.009" />
            </geometry>
        </collision>
        <inertial>
            <mass value="0.036" />
            <inertia ixx="3128e-9" ixy="0.0" ixz="0.0" iyy="3128e-9" iyz="0.0" izz="3128e-9" />
            <origin xyz="0 0 0" rpy="0 0 0" />
        </inertial>
    </link>
    <joint name="left_back_roller_12_joint" type="continuous">
        <origin rpy="0 0 0" xyz="-0.06724956154854442 0 -0.00024284054137712588" />
        <axis xyz="0.002553370907877698 0.7071067811865476 -0.7071021710453214" />
        <dynamics damping="0.0" friction="0.001" />
        <parent link="left_back_wheel" />
        <child link="left_back_roller_12" />
    </joint>
    <gazebo reference="left_back_roller_12">
        <mu1 value="2000.0" />
        <mu2 value="2000.0" />
        <kp value="1000000.0" />
        <kd value="100.0" />
        <material>Gazebo/Black</material>
    </gazebo>
    <!--  link  -->
    <link name="left_back_roller_13">
        <collision>
            <geometry>
                <sphere radius="0.009" />
            </geometry>
        </collision>
        <inertial>
            <mass value="0.036" />
            <inertia ixx="3128e-9" ixy="0.0" ixz="0.0" iyy="3128e-9" iyz="0.0" izz="3128e-9" />
            <origin xyz="0 0 0" rpy="0 0 0" />
        </inertial>
    </link>
    <joint name="left_back_roller_13_joint" type="continuous">
        <origin rpy="0 0 0" xyz="-0.062029747891165755 0 -0.025978315506560806" />
        <axis xyz="0.2731515696430154 0.7071067811865476 -0.6522179237046135" />
        <dynamics damping="0.0" friction="0.001" />
        <parent link="left_back_wheel" />
        <child link="left_back_roller_13" />
    </joint>
    <gazebo reference="left_back_roller_13">
        <mu1 value="2000.0" />
        <mu2 value="2000.0" />
        <kp value="1000000.0" />
        <kd value="100.0" />
        <material>Gazebo/Black</material>
    </gazebo>
    <!--  link  -->
    <link name="left_back_roller_14">
        <collision>
            <geometry>
                <sphere radius="0.009" />
            </geometry>
        </collision>
        <inertial>
            <mass value="0.036" />
            <inertia ixx="3128e-9" ixy="0.0" ixz="0.0" iyy="3128e-9" iyz="0.0" izz="3128e-9" />
            <origin xyz="0 0 0" rpy="0 0 0" />
        </inertial>
    </link>
    <joint name="left_back_roller_14_joint" type="continuous">
        <origin rpy="0 0 0" xyz="-0.047352175978368535 0 -0.04775284211556018" />
        <axis xyz="0.5021019848452515 0.7071067811865476 -0.49788914108911725" />
        <dynamics damping="0.0" friction="0.001" />
        <parent link="left_back_wheel" />
        <child link="left_back_roller_14" />
    </joint>
    <gazebo reference="left_back_roller_14">
        <mu1 value="2000.0" />
        <mu2 value="2000.0" />
        <kp value="1000000.0" />
        <kd value="100.0" />
        <material>Gazebo/Black</material>
    </gazebo>
    <!--  link  -->
    <link name="left_back_roller_15">
        <collision>
            <geometry>
                <sphere radius="0.009" />
            </geometry>
        </collision>
        <inertial>
            <mass value="0.036" />
            <inertia ixx="3128e-9" ixy="0.0" ixz="0.0" iyy="3128e-9" iyz="0.0" izz="3128e-9" />
            <origin xyz="0 0 0" rpy="0 0 0" />
        </inertial>
    </link>
    <joint name="left_back_roller_15_joint" type="continuous">
        <origin rpy="0 0 0" xyz="-0.025454754743320145 0 -0.06224642930287183" />
        <axis xyz="0.6544962418544192 0.7071067811865476 -0.2676465381775779" />
        <dynamics damping="0.0" friction="0.001" />
        <parent link="left_back_wheel" />
        <child link="left_back_roller_15" />
    </joint>
    <gazebo reference="left_back_roller_15">
        <mu1 value="2000.0" />
        <mu2 value="2000.0" />
        <kp value="1000000.0" />
        <kd value="100.0" />
        <material>Gazebo/Black</material>
    </gazebo>
    <!--  link  -->
    <link name="right_back_wheel">
        <visual>
            <geometry>
                <mesh filename="package://sp_description/meshes/common/mecanum_wheel/right_threaded_mecanum_wheel.stl" scale="0.001 0.001 0.001" />
            </geometry>
        </visual>
        <inertial>
            <mass value="0.59" />
            <inertia ixx="1.416e-3" ixy="0.0" ixz="0.0" iyy="2.749e-3" iyz="0.0" izz="1.416e-3" />
        </inertial>
    </link>
    <!--  joint  -->
    <joint name="right_back_wheel_joint" type="revolute">
        <axis xyz="0 1 0" />
        <origin rpy="0 0 0" xyz="-0.19727 -0.223 -0.00111" />
        <!--      limit not work while type="continuous"-->
        <limit effort="10" lower="-1e9" upper="1e9" velocity="70" />
        <dynamics damping="0.0" friction="0.05" />
        <parent link="base_link" />
        <child link="right_back_wheel" />
    </joint>
    <!--  link  -->
    <link name="right_back_roller_0">
        <collision>
            <geometry>
                <sphere radius="0.009" />
            </geometry>
        </collision>
        <inertial>
            <mass value="0.036" />
            <inertia ixx="3128e-9" ixy="0.0" ixz="0.0" iyy="3128e-9" iyz="0.0" izz="3128e-9" />
            <origin xyz="0 0 0" rpy="0 0 0" />
        </inertial>
    </link>
    <joint name="right_back_roller_0_joint" type="continuous">
        <origin rpy="0 0 0" xyz="4.117874862132975e-18 0 -0.06725" />
        <axis xyz="0.7071067811865476 -0.7071067811865476 0.0" />
        <dynamics damping="0.0" friction="0.001" />
        <parent link="right_back_wheel" />
        <child link="right_back_roller_0" />
    </joint>
    <gazebo reference="right_back_roller_0">
        <mu1 value="2000.0" />
        <mu2 value="2000.0" />
        <kp value="1000000.0" />
        <kd value="100.0" />
        <material>Gazebo/Black</material>
    </gazebo>
    <!--  link  -->
    <link name="right_back_roller_1">
        <collision>
            <geometry>
                <sphere radius="0.009" />
            </geometry>
        </collision>
        <inertial>
            <mass value="0.036" />
            <inertia ixx="3128e-9" ixy="0.0" ixz="0.0" iyy="3128e-9" iyz="0.0" izz="3128e-9" />
            <origin xyz="0 0 0" rpy="0 0 0" />
        </inertial>
    </link>
    <joint name="right_back_roller_1_joint" type="continuous">
        <origin rpy="0 0 0" xyz="0.025754155985525513 0 -0.06212315147731336" />
        <axis xyz="0.653200024955946 -0.7071067811865476 0.27079462217250855" />
        <dynamics damping="0.0" friction="0.001" />
        <parent link="right_back_wheel" />
        <child link="right_back_roller_1" />
    </joint>
    <gazebo reference="right_back_roller_1">
        <mu1 value="2000.0" />
        <mu2 value="2000.0" />
        <kp value="1000000.0" />
        <kd value="100.0" />
        <material>Gazebo/Black</material>
    </gazebo>
    <!--  link  -->
    <link name="right_back_roller_2">
        <collision>
            <geometry>
                <sphere radius="0.009" />
            </geometry>
        </collision>
        <inertial>
            <mass value="0.036" />
            <inertia ixx="3128e-9" ixy="0.0" ixz="0.0" iyy="3128e-9" iyz="0.0" izz="3128e-9" />
            <origin xyz="0 0 0" rpy="0 0 0" />
        </inertial>
    </link>
    <joint name="right_back_roller_2_joint" type="continuous">
        <origin rpy="0 0 0" xyz="0.04758154151551398 0 -0.04752430333005861" />
        <axis xyz="0.49969899116506866 -0.7071067811865476 0.5003008277312888" />
        <dynamics damping="0.0" friction="0.001" />
        <parent link="right_back_wheel" />
        <child link="right_back_roller_2" />
    </joint>
    <gazebo reference="right_back_roller_2">
        <mu1 value="2000.0" />
        <mu2 value="2000.0" />
        <kp value="1000000.0" />
        <kd value="100.0" />
        <material>Gazebo/Black</material>
    </gazebo>
    <!--  link  -->
    <link name="right_back_roller_3">
        <collision>
            <geometry>
                <sphere radius="0.009" />
            </geometry>
        </collision>
        <inertial>
            <mass value="0.036" />
            <inertia ixx="3128e-9" ixy="0.0" ixz="0.0" iyy="3128e-9" iyz="0.0" izz="3128e-9" />
            <origin xyz="0 0 0" rpy="0 0 0" />
        </inertial>
    </link>
    <joint name="right_back_roller_3_joint" type="continuous">
        <origin rpy="0 0 0" xyz="0.062154106054395655 0 -0.02567936137404779" />
        <axis xyz="0.2700081868271984 -0.7071067811865476 0.6535254999204613" />
        <dynamics damping="0.0" friction="0.001" />
        <parent link="right_back_wheel" />
        <child link="right_back_roller_3" />
    </joint>
    <gazebo reference="right_back_roller_3">
        <mu1 value="2000.0" />
        <mu2 value="2000.0" />
        <kp value="1000000.0" />
        <kd value="100.0" />
        <material>Gazebo/Black</material>
    </gazebo>
    <!--  link  -->
    <link name="right_back_roller_4">
        <collision>
            <geometry>
                <sphere radius="0.009" />
            </geometry>
        </collision>
        <inertial>
            <mass value="0.036" />
            <inertia ixx="3128e-9" ixy="0.0" ixz="0.0" iyy="3128e-9" iyz="0.0" izz="3128e-9" />
            <origin xyz="0 0 0" rpy="0 0 0" />
        </inertial>
    </link>
    <joint name="right_back_roller_4_joint" type="continuous">
        <origin rpy="0 0 0" xyz="0.06724995128312455 0 8.094700349681064e-05" />
        <axis xyz="-0.0008511252801386329 -0.7071067811865476 0.7071062689481388" />
        <dynamics damping="0.0" friction="0.001" />
        <parent link="right_back_wheel" />
        <child link="right_back_roller_4" />
    </joint>
    <gazebo reference="right_back_roller_4">
        <mu1 value="2000.0" />
        <mu2 value="2000.0" />
        <kp value="1000000.0" />
        <kd value="100.0" />
        <material>Gazebo/Black</material>
    </gazebo>
    <!--  link  -->
    <link name="right_back_roller_5">
        <collision>
            <geometry>
                <sphere radius="0.009" />
            </geometry>
        </collision>
        <inertial>
            <mass value="0.036" />
            <inertia ixx="3128e-9" ixy="0.0" ixz="0.0" iyy="3128e-9" iyz="0.0" izz="3128e-9" />
            <origin xyz="0 0 0" rpy="0 0 0" />
        </inertial>
    </link>
    <joint name="right_back_roller_5_joint" type="continuous">
        <origin rpy="0 0 0" xyz="0.06209210689440703 0 0.025828913283634913" />
        <axis xyz="-0.27158066518271434 -0.7071067811865476 0.6528736036162853" />
        <dynamics damping="0.0" friction="0.001" />
        <parent link="right_back_wheel" />
        <child link="right_back_roller_5" />
    </joint>
    <gazebo reference="right_back_roller_5">
        <mu1 value="2000.0" />
        <mu2 value="2000.0" />
        <kp value="1000000.0" />
        <kd value="100.0" />
        <material>Gazebo/Black</material>
    </gazebo>
    <!--  link  -->
    <link name="right_back_roller_6">
        <collision>
            <geometry>
                <sphere radius="0.009" />
            </geometry>
        </collision>
        <inertial>
            <mass value="0.036" />
            <inertia ixx="3128e-9" ixy="0.0" ixz="0.0" iyy="3128e-9" iyz="0.0" izz="3128e-9" />
            <origin xyz="0 0 0" rpy="0 0 0" />
        </inertial>
    </link>
    <joint name="right_back_roller_6_joint" type="continuous">
        <origin rpy="0 0 0" xyz="0.04746699629001391 0 0.04763871076345167" />
        <axis xyz="-0.5009019394471561 -0.7071067811865476 0.499096430620454" />
        <dynamics damping="0.0" friction="0.001" />
        <parent link="right_back_wheel" />
        <child link="right_back_roller_6" />
    </joint>
    <gazebo reference="right_back_roller_6">
        <mu1 value="2000.0" />
        <mu2 value="2000.0" />
        <kp value="1000000.0" />
        <kd value="100.0" />
        <material>Gazebo/Black</material>
    </gazebo>
    <!--  link  -->
    <link name="right_back_roller_7">
        <collision>
            <geometry>
                <sphere radius="0.009" />
            </geometry>
        </collision>
        <inertial>
            <mass value="0.036" />
            <inertia ixx="3128e-9" ixy="0.0" ixz="0.0" iyy="3128e-9" iyz="0.0" izz="3128e-9" />
            <origin xyz="0 0 0" rpy="0 0 0" />
        </inertial>
    </link>
    <joint name="right_back_roller_7_joint" type="continuous">
        <origin rpy="0 0 0" xyz="0.02560452955756635 0 0.06218497058080603" />
        <axis xyz="-0.6538500280382736 -0.7071067811865476 0.2692213602861942" />
        <dynamics damping="0.0" friction="0.001" />
        <parent link="right_back_wheel" />
        <child link="right_back_roller_7" />
    </joint>
    <gazebo reference="right_back_roller_7">
        <mu1 value="2000.0" />
        <mu2 value="2000.0" />
        <kp value="1000000.0" />
        <kd value="100.0" />
        <material>Gazebo/Black</material>
    </gazebo>
    <!--  link  -->
    <link name="right_back_roller_8">
        <collision>
            <geometry>
                <sphere radius="0.009" />
            </geometry>
        </collision>
        <inertial>
            <mass value="0.036" />
            <inertia ixx="3128e-9" ixy="0.0" ixz="0.0" iyy="3128e-9" iyz="0.0" izz="3128e-9" />
            <origin xyz="0 0 0" rpy="0 0 0" />
        </inertial>
    </link>
    <joint name="right_back_roller_8_joint" type="continuous">
        <origin rpy="0 0 0" xyz="-0.0001618938897152502 0 0.06724980513256877" />
        <axis xyz="-0.7071047322336546 -0.7071067811865476 -0.0017022493271422689" />
        <dynamics damping="0.0" friction="0.001" />
        <parent link="right_back_wheel" />
        <child link="right_back_roller_8" />
    </joint>
    <gazebo reference="right_back_roller_8">
        <mu1 value="2000.0" />
        <mu2 value="2000.0" />
        <kp value="1000000.0" />
        <kd value="100.0" />
        <material>Gazebo/Black</material>
    </gazebo>
    <!--  link  -->
    <link name="right_back_roller_9">
        <collision>
            <geometry>
                <sphere radius="0.009" />
            </geometry>
        </collision>
        <inertial>
            <mass value="0.036" />
            <inertia ixx="3128e-9" ixy="0.0" ixz="0.0" iyy="3128e-9" iyz="0.0" izz="3128e-9" />
            <origin xyz="0 0 0" rpy="0 0 0" />
        </inertial>
    </link>
    <joint name="right_back_roller_9_joint" type="continuous">
        <origin rpy="0 0 0" xyz="-0.025903633160065442 0 0.062060972350654955" />
        <axis xyz="-0.6525462363744081 -0.7071067811865476 -0.2723663147189738" />
        <dynamics damping="0.0" friction="0.001" />
        <parent link="right_back_wheel" />
        <child link="right_back_roller_9" />
    </joint>
    <gazebo reference="right_back_roller_9">
        <mu1 value="2000.0" />
        <mu2 value="2000.0" />
        <kp value="1000000.0" />
        <kd value="100.0" />
        <material>Gazebo/Black</material>
    </gazebo>
    <!--  link  -->
    <link name="right_back_roller_10">
        <collision>
            <geometry>
                <sphere radius="0.009" />
            </geometry>
        </collision>
        <inertial>
            <mass value="0.036" />
            <inertia ixx="3128e-9" ixy="0.0" ixz="0.0" iyy="3128e-9" iyz="0.0" izz="3128e-9" />
            <origin xyz="0 0 0" rpy="0 0 0" />
        </inertial>
    </link>
    <joint name="right_back_roller_10_joint" type="continuous">
        <origin rpy="0 0 0" xyz="-0.04769581099104322 0 0.04740962047840798" />
        <axis xyz="-0.49849314697045194 -0.7071067811865476 -0.5015023254417625" />
        <dynamics damping="0.0" friction="0.001" />
        <parent link="right_back_wheel" />
        <child link="right_back_roller_10" />
    </joint>
    <gazebo reference="right_back_roller_10">
        <mu1 value="2000.0" />
        <mu2 value="2000.0" />
        <kp value="1000000.0" />
        <kd value="100.0" />
        <material>Gazebo/Black</material>
    </gazebo>
    <!--  link  -->
    <link name="right_back_roller_11">
        <collision>
            <geometry>
                <sphere radius="0.009" />
            </geometry>
        </collision>
        <inertial>
            <mass value="0.036" />
            <inertia ixx="3128e-9" ixy="0.0" ixz="0.0" iyy="3128e-9" iyz="0.0" izz="3128e-9" />
            <origin xyz="0 0 0" rpy="0 0 0" />
        </inertial>
    </link>
    <joint name="right_back_roller_11_joint" type="continuous">
        <origin rpy="0 0 0" xyz="-0.06221574501182705 0 0.02552966064449972" />
        <axis xyz="-0.2684341436894733 -0.7071067811865476 -0.6541736088391974" />
        <dynamics damping="0.0" friction="0.001" />
        <parent link="right_back_wheel" />
        <child link="right_back_roller_11" />
    </joint>
    <gazebo reference="right_back_roller_11">
        <mu1 value="2000.0" />
        <mu2 value="2000.0" />
        <kp value="1000000.0" />
        <kd value="100.0" />
        <material>Gazebo/Black</material>
    </gazebo>
    <!--  link  -->
    <link name="right_back_roller_12">
        <collision>
            <geometry>
                <sphere radius="0.009" />
            </geometry>
        </collision>
        <inertial>
            <mass value="0.036" />
            <inertia ixx="3128e-9" ixy="0.0" ixz="0.0" iyy="3128e-9" iyz="0.0" izz="3128e-9" />
            <origin xyz="0 0 0" rpy="0 0 0" />
        </inertial>
    </link>
    <joint name="right_back_roller_12_joint" type="continuous">
        <origin rpy="0 0 0" xyz="-0.06724956154854442 0 -0.00024284054137712588" />
        <axis xyz="0.002553370907877698 -0.7071067811865476 -0.7071021710453214" />
        <dynamics damping="0.0" friction="0.001" />
        <parent link="right_back_wheel" />
        <child link="right_back_roller_12" />
    </joint>
    <gazebo reference="right_back_roller_12">
        <mu1 value="2000.0" />
        <mu2 value="2000.0" />
        <kp value="1000000.0" />
        <kd value="100.0" />
        <material>Gazebo/Black</material>
    </gazebo>
    <!--  link  -->
    <link name="right_back_roller_13">
        <collision>
            <geometry>
                <sphere radius="0.009" />
            </geometry>
        </collision>
        <inertial>
            <mass value="0.036" />
            <inertia ixx="3128e-9" ixy="0.0" ixz="0.0" iyy="3128e-9" iyz="0.0" izz="3128e-9" />
            <origin xyz="0 0 0" rpy="0 0 0" />
        </inertial>
    </link>
    <joint name="right_back_roller_13_joint" type="continuous">
        <origin rpy="0 0 0" xyz="-0.062029747891165755 0 -0.025978315506560806" />
        <axis xyz="0.2731515696430154 -0.7071067811865476 -0.6522179237046135" />
        <dynamics damping="0.0" friction="0.001" />
        <parent link="right_back_wheel" />
        <child link="right_back_roller_13" />
    </joint>
    <gazebo reference="right_back_roller_13">
        <mu1 value="2000.0" />
        <mu2 value="2000.0" />
        <kp value="1000000.0" />
        <kd value="100.0" />
        <material>Gazebo/Black</material>
    </gazebo>
    <!--  link  -->
    <link name="right_back_roller_14">
        <collision>
            <geometry>
                <sphere radius="0.009" />
            </geometry>
        </collision>
        <inertial>
            <mass value="0.036" />
            <inertia ixx="3128e-9" ixy="0.0" ixz="0.0" iyy="3128e-9" iyz="0.0" izz="3128e-9" />
            <origin xyz="0 0 0" rpy="0 0 0" />
        </inertial>
    </link>
    <joint name="right_back_roller_14_joint" type="continuous">
        <origin rpy="0 0 0" xyz="-0.047352175978368535 0 -0.04775284211556018" />
        <axis xyz="0.5021019848452515 -0.7071067811865476 -0.49788914108911725" />
        <dynamics damping="0.0" friction="0.001" />
        <parent link="right_back_wheel" />
        <child link="right_back_roller_14" />
    </joint>
    <gazebo reference="right_back_roller_14">
        <mu1 value="2000.0" />
        <mu2 value="2000.0" />
        <kp value="1000000.0" />
        <kd value="100.0" />
        <material>Gazebo/Black</material>
    </gazebo>
    <!--  link  -->
    <link name="right_back_roller_15">
        <collision>
            <geometry>
                <sphere radius="0.009" />
            </geometry>
        </collision>
        <inertial>
            <mass value="0.036" />
            <inertia ixx="3128e-9" ixy="0.0" ixz="0.0" iyy="3128e-9" iyz="0.0" izz="3128e-9" />
            <origin xyz="0 0 0" rpy="0 0 0" />
        </inertial>
    </link>
    <joint name="right_back_roller_15_joint" type="continuous">
        <origin rpy="0 0 0" xyz="-0.025454754743320145 0 -0.06224642930287183" />
        <axis xyz="0.6544962418544192 -0.7071067811865476 -0.2676465381775779" />
        <dynamics damping="0.0" friction="0.001" />
        <parent link="right_back_wheel" />
        <child link="right_back_roller_15" />
    </joint>
    <gazebo reference="right_back_roller_15">
        <mu1 value="2000.0" />
        <mu2 value="2000.0" />
        <kp value="1000000.0" />
        <kd value="100.0" />
        <material>Gazebo/Black</material>
    </gazebo>
    <transmission name="left_front_wheel_trans">
        <type>transmission_interface/SimpleTransmission</type>
        <actuator name="left_front_wheel_motor">
            <hardwareInterface>hardware_interface/EffortJointInterface</hardwareInterface>
            <mechanicalReduction>19.2032</mechanicalReduction>
        </actuator>
        <joint name="left_front_wheel_joint">
            <hardwareInterface>hardware_interface/EffortJointInterface</hardwareInterface>
        </joint>
    </transmission>
    <transmission name="right_front_wheel_trans">
        <type>transmission_interface/SimpleTransmission</type>
        <actuator name="right_front_wheel_motor">
            <hardwareInterface>hardware_interface/EffortJointInterface</hardwareInterface>
            <mechanicalReduction>-19.2032</mechanicalReduction>
        </actuator>
        <joint name="right_front_wheel_joint">
            <hardwareInterface>hardware_interface/EffortJointInterface</hardwareInterface>
        </joint>
    </transmission>
    <transmission name="left_back_wheel_trans">
        <type>transmission_interface/SimpleTransmission</type>
        <actuator name="left_back_wheel_motor">
            <hardwareInterface>hardware_interface/EffortJointInterface</hardwareInterface>
            <mechanicalReduction>19.2032</mechanicalReduction>
        </actuator>
        <joint name="left_back_wheel_joint">
            <hardwareInterface>hardware_interface/EffortJointInterface</hardwareInterface>
        </joint>
    </transmission>
    <transmission name="right_back_wheel_trans">
        <type>transmission_interface/SimpleTransmission</type>
        <actuator name="right_back_wheel_motor">
            <hardwareInterface>hardware_interface/EffortJointInterface</hardwareInterface>
            <mechanicalReduction>-19.2032</mechanicalReduction>
        </actuator>
        <joint name="right_back_wheel_joint">
            <hardwareInterface>hardware_interface/EffortJointInterface</hardwareInterface>
        </joint>
    </transmission>
    <link name="fpv_base_link">
        <inertial>
            <origin rpy="0 0 0" xyz="-0.00837197593310401 0.000140523225172551 0.260650515078393" />
            <mass value="0.318290775105411" />
            <inertia ixx="0.000973615562452728" ixy="9.93132176470742E-08" ixz="-1.69679963274217E-08" iyy="0.000982867792635814" iyz="-2.29555898593292E-07" izz="3.91535142867244E-05" />
        </inertial>
        <visual>
            <origin rpy="0 0 0" xyz="0 0 0" />
            <geometry>
                <mesh filename="package://sp_description/meshes/fpv_module/base_link.STL" />
            </geometry>
            <material name="">
                <color rgba="0.898039215686275 0.917647058823529 0.929411764705882 1" />
            </material>
        </visual>
        <collision>
            <origin rpy="0 0 0" xyz="-0.029 0.0 0.1213" />
            <geometry>
                <box size="0.025 0.025 0.27" />
            </geometry>
        </collision>
        <collision>
            <origin rpy="0 0 0" xyz="0.0085 0.01 0.2963" />
            <geometry>
                <box size="0.1 0.09 0.08" />
            </geometry>
        </collision>
    </link>
    <link name="mast">
        <inertial>
            <origin rpy="0 0 0" xyz="0.00716538024583485 -0.00264462585813141 0.223656429556577" />
            <mass value="0.434967907171886" />
            <inertia ixx="0.00352779149135138" ixy="-3.17747244925809E-06" ixz="-8.40259572495528E-08" iyy="0.00361813573645971" iyz="-5.8119648700945E-09" izz="0.000252286197843195" />
        </inertial>
        <visual>
            <origin rpy="0 0 0" xyz="0 0 0" />
            <geometry>
                <mesh filename="package://sp_description/meshes/fpv_module/mast.STL" />
            </geometry>
            <material name="">
                <color rgba="0.823529411764706 0.870588235294118 0.980392156862745 1" />
            </material>
        </visual>
        <collision>
            <origin rpy="0 0 0" xyz="0.003 0 0.1738" />
            <geometry>
                <box size="0.031 0.036 0.375" />
            </geometry>
        </collision>
        <collision>
            <origin rpy="0 0 0" xyz="0.038 -0.008 0.3813" />
            <geometry>
                <box size="0.2 0.12 0.06" />
            </geometry>
        </collision>
    </link>
    <joint name="mast_joint" type="prismatic">
        <origin rpy="0 0 0" xyz="0 0 0" />
        <parent link="fpv_base_link" />
        <child link="mast" />
        <!--标记一下奇怪的地方-->
        <axis xyz="0 0 1" />
        <limit effort="50" lower="0" upper="0.235" velocity="0.8" />
    </joint>
    <link name="fpv_yaw">
        <inertial>
            <origin rpy="0 0 0" xyz="-0.00916957696697959 0.0441061978242165 0.0183084882784505" />
            <mass value="0.0608808554843221" />
            <inertia ixx="9.04027463419959E-03" ixy="9.88988932831204E-05" ixz="4.51337209267773E-05" iyy="1.46381906705228E-02" iyz="3.26266079201928E-04" izz="1.94937658359286E-02" />
        </inertial>
        <visual>
            <origin rpy="0 0 0" xyz="0 0 0" />
            <geometry>
                <mesh filename="package://sp_description/meshes/fpv_module/fpv_yaw.STL" />
            </geometry>
            <material name="">
                <color rgba="0.498039215686275 0.498039215686275 0.498039215686275 1" />
            </material>
        </visual>
        <collision>
            <origin rpy="0 0 0" xyz="0.0012 0.023 0.0285" />
            <geometry>
                <box size="0.07 0.075 0.025" />
            </geometry>
        </collision>
    </link>
    <joint name="fpv_yaw_joint" type="revolute">
        <origin rpy="0 0 0" xyz="0 -0.0285 0.3853" />
        <parent link="mast" />
        <child link="fpv_yaw" />
        <axis xyz="0 0 1" />
        <limit effort="1.3" lower="-1.5708" upper="1.5708" velocity="6" />
    </joint>
    <link name="fpv_pitch">
        <inertial>
            <origin rpy="0 0 0" xyz="-0.0174476716824312 -0.0555089282604818 -4.05421645252591E-05" />
            <mass value="0.790822100365449" />
            <inertia ixx="0.000904458627478079" ixy="-1.04817358797102E-03" ixz="3.64987845692274E-04" iyy="0.00117560347818278" iyz="8.43541198126057E-05" izz="0.000928104839953432" />
        </inertial>
        <visual>
            <origin rpy="0 0 0" xyz="0 0 0" />
            <geometry>
                <mesh filename="package://sp_description/meshes/fpv_module/fpv_pitch.STL" />
            </geometry>
            <material name="">
                <color rgba="0.498039215686275 0.498039215686275 0.498039215686275 1" />
            </material>
        </visual>
        <collision>
            <origin rpy="0 0 0" xyz="0.005 -0.05 0" />
            <geometry>
                <box size="0.11 0.07 0.05" />
            </geometry>
        </collision>
    </link>
    <joint name="fpv_pitch_joint" type="revolute">
        <origin rpy="-1.5708 0 -3.1416" xyz="0 0.0007 0.0275" />
        <parent link="fpv_yaw" />
        <child link="fpv_pitch" />
        <axis xyz="0 0 1" />
        <limit effort="1.3" lower="-1.5708" upper="1.5708" velocity="6" />
    </joint>
    <!-- Create laser reference frame -->
    <link name="camera_link">
        <inertial>
            <mass value="0.1" />
            <origin xyz="0 0 0" />
            <inertia ixx="0.01" ixy="0.0" ixz="0.0" iyy="0.01" iyz="0.0" izz="0.01" />
        </inertial>
    </link>
    <gazebo reference="camera_link">
        <sensor name="camera_node" type="camera">
            <update_rate>30.0</update_rate>
            <camera name="head">
                <horizontal_fov>1.3962634</horizontal_fov>
                <image>
                    <width>1280</width>
                    <height>720</height>
                    <format>R8G8B8</format>
                </image>
                <clip>
                    <near>0.02</near>
                    <far>300</far>
                </clip>
                <noise>
                    <type>gaussian</type>
                    <mean>0.0</mean>
                    <stddev>0.007</stddev>
                </noise>
            </camera>
            <plugin filename="libgazebo_ros_camera.so" name="gazebo_camera">
                <alwaysOn>true</alwaysOn>
                <updateRate>0.0</updateRate>
                <cameraName>/camera</cameraName>
                <imageTopicName>image_raw</imageTopicName>
                <cameraInfoTopicName>camera_info</cameraInfoTopicName>
                <frameName>camera_link</frameName>
                <hackBaseline>0.07</hackBaseline>
                <distortionK1>0.0</distortionK1>
                <distortionK2>0.0</distortionK2>
                <distortionK3>0.0</distortionK3>
                <distortionT1>0.0</distortionT1>
                <distortionT2>0.0</distortionT2>
            </plugin>
        </sensor>
    </gazebo>
    <joint name="camera_joint" type="fixed">
        <origin rpy="-1.5707 0 3.1416" xyz="-0.05 -0.04 0" />
        <parent link="fpv_pitch" />
        <child link="camera_link" />
        <axis xyz="0 0 1" />
    </joint>
    <!--Transmission-->
    <transmission name="trans_mast_joint">
        <type>transmission_interface/SimpleTransmission</type>
        <actuator name="mast_joint_motor">
            <mechanicalReduction>1</mechanicalReduction>
            <hardwareInterface>hardware_interface/EffortJointInterface</hardwareInterface>
        </actuator>
        <joint name="mast_joint">
            <hardwareInterface>hardware_interface/PositionJointInterface</hardwareInterface>
        </joint>
    </transmission>
    <transmission name="trans_fpv_yaw_joint">
        <type>transmission_interface/SimpleTransmission</type>
        <actuator name="fpv_yaw_joint_motor">
            <mechanicalReduction>1</mechanicalReduction>
            <hardwareInterface>hardware_interface/EffortJointInterface</hardwareInterface>
        </actuator>
        <joint name="fpv_yaw_joint">
            <hardwareInterface>hardware_interface/PositionJointInterface</hardwareInterface>
        </joint>
    </transmission>
    <transmission name="trans_fpv_pitch_joint">
        <type>transmission_interface/SimpleTransmission</type>
        <actuator name="fpv_pitch_joint_motor">
            <mechanicalReduction>1</mechanicalReduction>
            <hardwareInterface>hardware_interface/EffortJointInterface</hardwareInterface>
        </actuator>
        <joint name="fpv_pitch_joint">
            <hardwareInterface>hardware_interface/PositionJointInterface</hardwareInterface>
        </joint>
    </transmission>
    <link name="arm_base_link">
        <inertial>
            <origin rpy="0 0 0" xyz="-0.0518095743713841 -0.00026336608241872 0.00154016786617812" />
            <mass value="0.288208331551669" />
            <inertia ixx="0.000244031290955245" ixy="8.67714690500338E-09" ixz="-2.40360210663764E-08" iyy="0.000405348993289901" iyz="-4.31198411045797E-09" izz="0.000644301933435004" />
        </inertial>
        <visual>
            <origin rpy="0 0 0" xyz="0 0 0" />
            <geometry>
                <mesh filename="package://sp_description/meshes/engineer2_manipulator/baselink.STL" />
            </geometry>
            <material name="">
                <color rgba="0.333333333333333 0.333333333333333 0.333333333333333 1" />
            </material>
        </visual>
        <collision>
            <origin rpy="0 0 0" xyz="0 0 0" />
            <geometry>
                <mesh filename="package://sp_description/meshes/engineer2_manipulator/baselink.STL" />
            </geometry>
        </collision>
    </link>
    <link name="link1">
        <inertial>
            <origin rpy="0 0 0" xyz="-0.000374224071529143 0.0136841926250667 0.0310279395315023" />
            <mass value="0.378634616635792" />
            <inertia ixx="0.000399769050341828" ixy="-1.12279959742056E-07" ixz="7.4174975368788E-07" iyy="0.000605852920055866" iyz="-9.01688301312537E-07" izz="0.000409205953927844" />
        </inertial>
        <visual>
            <origin rpy="0 0 0" xyz="0 0 0" />
            <geometry>
                <mesh filename="package://sp_description/meshes/engineer2_manipulator/link1.STL" />
            </geometry>
            <material name="">
                <color rgba="0.333333333333333 0.333333333333333 0.333333333333333 1" />
            </material>
        </visual>
        <collision>
            <origin rpy="0 0 0" xyz="0 0 0" />
            <geometry>
                <mesh filename="package://sp_description/meshes/engineer2_manipulator/link1.STL" />
            </geometry>
        </collision>
    </link>
    <joint name="joint1" type="revolute">
        <origin rpy="0 0 0" xyz="0 0 0.024" />
        <parent link="arm_base_link" />
        <child link="link1" />
        <axis xyz="0 0 1" />
        <limit effort="20" lower="-3.14" upper="3.14" velocity="5" />
    </joint>
    <link name="link2">
        <inertial>
            <origin rpy="0 0 0" xyz="0.0664236740686057 0.000776109930885217 0.0223130383419596" />
            <mass value="0.992951364752065" />
            <inertia ixx="0.000867761598325693" ixy="-5.62561657469764E-06" ixz="-1.26329828147808E-07" iyy="0.00129570980259147" iyz="1.40832854585324E-06" izz="0.00161881028021324" />
        </inertial>
        <visual>
            <origin rpy="0 0 0" xyz="0 0 0" />
            <geometry>
                <mesh filename="package://sp_description/meshes/engineer2_manipulator/link2.STL" />
            </geometry>
            <material name="">
                <color rgba="0.898039215686275 0.917647058823529 0.929411764705882 1" />
            </material>
        </visual>
        <collision>
            <origin rpy="0 0 0" xyz="0 0 0" />
            <geometry>
                <mesh filename="package://sp_description/meshes/engineer2_manipulator/link2.STL" />
            </geometry>
        </collision>
    </link>
    <joint name="joint2" type="revolute">
        <origin rpy="1.5708 -1.5708 0" xyz="0 0.022 0.065" />
        <parent link="link1" />
        <child link="link2" />
        <axis xyz="0 0 -1" />
        <limit effort="20" lower="-1.57" upper="1.57" velocity="5" />
    </joint>
    <link name="link3">
        <inertial>
            <origin rpy="0 0 0" xyz="0.0529953233929685 -0.00087340330976007 -0.00332798770534426" />
            <mass value="1.29043542087694" />
            <inertia ixx="0.000660438768204008" ixy="-9.41385714382025E-07" ixz="-2.73606948597533E-05" iyy="0.000654878904373999" iyz="-7.84069267827581E-08" izz="0.000611429702633374" />
        </inertial>
        <visual>
            <origin rpy="0 0 0" xyz="0 0 0" />
            <geometry>
                <mesh filename="package://sp_description/meshes/engineer2_manipulator/link3.STL" />
            </geometry>
            <material name="">
                <color rgba="0.898039215686275 0.917647058823529 0.929411764705882 1" />
            </material>
        </visual>
        <collision>
            <origin rpy="0 0 0" xyz="0 0 0" />
            <geometry>
                <mesh filename="package://sp_description/meshes/engineer2_manipulator/link3.STL" />
            </geometry>
        </collision>
    </link>
    <joint name="joint3" type="revolute">
        <origin rpy="0 0 0.0114314489445579" xyz="0.199986932336027 0.00228624032540565 0" />
        <parent link="link2" />
        <child link="link3" />
        <axis xyz="0 0 -1" />
        <limit effort="20" lower="-1.57" upper="1.57" velocity="5" />
    </joint>
    <link name="swiping_card">
        <inertial>
            <origin rpy="0 0 0" xyz="-0.043679 3.1364E-15 0.0024775" />
            <mass value="0.12034" />
            <inertia ixx="0.00013212" ixy="6.8395E-06" ixz="-2.4208E-06" iyy="0.00035298" iyz="-4.3226E-06" izz="0.00048461" />
        </inertial>
        <visual>
            <origin rpy="0 0 0" xyz="0 0 0" />
            <geometry>
                <mesh filename="package://sp_description/meshes/engineer_chassis/swiping_card.STL" />
            </geometry>
        </visual>
        <collision>
            <origin rpy="0 0 0" xyz="0 0 0" />
            <geometry>
                <mesh filename="package://sp_description/meshes/engineer_chassis/swiping_card.STL" />
            </geometry>
        </collision>
    </link>
    <joint name="card_joint" type="prismatic">
        <origin rpy="0 0 0" xyz="0.235 0 -0.0155" />
        <parent link="base_link" />
        <child link="swiping_card" />
        <axis xyz="1 0 0" />
        <limit effort="80" lower="0" upper="0.2" velocity="2" />
    </joint>
    <transmission name="trans_card_joint">
        <type>transmission_interface/SimpleTransmission</type>
        <actuator name="card_joint_motor">
            <mechanicalReduction>49.97</mechanicalReduction>
            <hardwareInterface>hardware_interface/EffortJointInterface</hardwareInterface>
        </actuator>
        <joint name="card_joint">
            <hardwareInterface>hardware_interface/EffortJointInterface</hardwareInterface>
        </joint>
    </transmission>
    <!-- Lidar is fixed to the connected_to link -->
    <joint name="rplidar_front_joint" type="fixed">
        <origin rpy="0 0 0" xyz="0.22 0 0.165" />
        <parent link="base_link" />
        <child link="rplidar_front" />
    </joint>
    <!-- Lidar link -->
    <link name="rplidar_front">
        <inertial>
            <mass value="0.114" />
            <origin xyz="0 0 0" rpy="0 0 0" />
            <inertia ixx="0.001" ixy="0.0" ixz="0.0" iyy="0.001" iyz="0.0" izz="0.001" />
        </inertial>
        <visual>
            <origin rpy="0 0 3.14159" xyz="0 0 0.0" />
            <geometry>
                <mesh filename="package://sp_description/meshes/common/lds.stl" scale="0.001 0.001 0.001" />
            </geometry>
        </visual>
        <collision>
            <origin rpy="0 0 3.14159" xyz="0.015 0 -0.0065" />
            <geometry>
                <cylinder length="0.0315" radius="0.055" />
            </geometry>
        </collision>
    </link>
    <gazebo reference="rplidar_front">
        <material>Gazebo/FlatBlack</material>
        <sensor name="rplidar_front_sensor" type="ray">
            <pose>0 0 0 0 0 0</pose>
            <visualize>false</visualize>
            <update_rate>5</update_rate>
            <ray>
                <scan>
                    <horizontal>
                        <samples>360</samples>
                        <resolution>1</resolution>
                        <min_angle>-1.5707</min_angle>
                        <max_angle>1.5707</max_angle>
                    </horizontal>
                </scan>
                <range>
                    <min>0.1</min>
                    <max>8</max>
                    <resolution>0.015</resolution>
                </range>
                <noise>
                    <type>gaussian</type>
                    <mean>0.0</mean>
                    <stddev>0.01</stddev>
                </noise>
            </ray>
            <plugin filename="libgazebo_ros_laser.so" name="gazebo_rplidar_front_controller">
                <topicName>scan_rplidar_front</topicName>
                <frameName>rplidar_front</frameName>
            </plugin>
        </sensor>
    </gazebo>
    <!-- Lidar is fixed to the connected_to link -->
    <joint name="rplidar_back_joint" type="fixed">
        <origin rpy="0 0 3.14159" xyz="-0.22 0 0.165" />
        <parent link="base_link" />
        <child link="rplidar_back" />
    </joint>
    <!-- Lidar link -->
    <link name="rplidar_back">
        <inertial>
            <mass value="0.114" />
            <origin xyz="0 0 0" rpy="0 0 0" />
            <inertia ixx="0.001" ixy="0.0" ixz="0.0" iyy="0.001" iyz="0.0" izz="0.001" />
        </inertial>
        <visual>
            <origin rpy="0 0 3.14159" xyz="0 0 0.0" />
            <geometry>
                <mesh filename="package://sp_description/meshes/common/lds.stl" scale="0.001 0.001 0.001" />
            </geometry>
        </visual>
        <collision>
            <origin rpy="0 0 3.14159" xyz="0.015 0 -0.0065" />
            <geometry>
                <cylinder length="0.0315" radius="0.055" />
            </geometry>
        </collision>
    </link>
    <gazebo reference="rplidar_back">
        <material>Gazebo/FlatBlack</material>
        <sensor name="rplidar_back_sensor" type="ray">
            <pose>0 0 0 0 0 0</pose>
            <visualize>false</visualize>
            <update_rate>5</update_rate>
            <ray>
                <scan>
                    <horizontal>
                        <samples>360</samples>
                        <resolution>1</resolution>
                        <min_angle>-1.5707</min_angle>
                        <max_angle>1.5707</max_angle>
                    </horizontal>
                </scan>
                <range>
                    <min>0.1</min>
                    <max>8</max>
                    <resolution>0.015</resolution>
                </range>
                <noise>
                    <type>gaussian</type>
                    <mean>0.0</mean>
                    <stddev>0.01</stddev>
                </noise>
            </ray>
            <plugin filename="libgazebo_ros_laser.so" name="gazebo_rplidar_back_controller">
                <topicName>scan_rplidar_back</topicName>
                <frameName>rplidar_back</frameName>
            </plugin>
        </sensor>
    </gazebo>
    <joint name="joint_arm2body" type="fixed">
        <axis xyz="0 0 1" />
        <origin rpy="0 0 0" xyz="0.0445 0.197 0.237" />
        <parent link="base_link" />
        <child link="arm_base_link" />
    </joint>
    <joint name="joint_mast2body" type="fixed">
        <axis xyz="0 0 1" />
        <origin rpy="0 0 1.5707" xyz="-0.2295 -0.0815 0.0157" />
        <parent link="base_link" />
        <child link="fpv_base_link" />
    </joint>
    <gazebo>
        <plugin filename="libgazebo_ros_control.so" name="gazebo_ros_control">
            <robotNamespace>/</robotNamespace>
        </plugin>
        <plugin filename="libchassis_controller.so" name="chassis_controller">
            <robotNamespace>/</robotNamespace>
        </plugin>
        <plugin filename="libgimbal_controller.so" name="gimbal_controller">
            <robotNamespace>/</robotNamespace>
        </plugin>
    </gazebo>
    <transmission name="trans_left_front_roller_0_joint">
        <type>transmission_interface/SimpleTransmission</type>
        <joint name="left_front_roller_0_joint">
            <hardwareInterface>hardware_interface/EffortJointInterface</hardwareInterface>
        </joint>
        <actuator name="left_front_roller_0_joint_motor">
            <hardwareInterface>hardware_interface/EffortJointInterface</hardwareInterface>
            <mechanicalReduction>1</mechanicalReduction>
        </actuator>
    </transmission>
    <transmission name="trans_left_front_roller_1_joint">
        <type>transmission_interface/SimpleTransmission</type>
        <joint name="left_front_roller_1_joint">
            <hardwareInterface>hardware_interface/EffortJointInterface</hardwareInterface>
        </joint>
        <actuator name="left_front_roller_1_joint_motor">
            <hardwareInterface>hardware_interface/EffortJointInterface</hardwareInterface>
            <mechanicalReduction>1</mechanicalReduction>
        </actuator>
    </transmission>
    <transmission name="trans_left_front_roller_2_joint">
        <type>transmission_interface/SimpleTransmission</type>
        <joint name="left_front_roller_2_joint">
            <hardwareInterface>hardware_interface/EffortJointInterface</hardwareInterface>
        </joint>
        <actuator name="left_front_roller_2_joint_motor">
            <hardwareInterface>hardware_interface/EffortJointInterface</hardwareInterface>
            <mechanicalReduction>1</mechanicalReduction>
        </actuator>
    </transmission>
    <transmission name="trans_left_front_roller_3_joint">
        <type>transmission_interface/SimpleTransmission</type>
        <joint name="left_front_roller_3_joint">
            <hardwareInterface>hardware_interface/EffortJointInterface</hardwareInterface>
        </joint>
        <actuator name="left_front_roller_3_joint_motor">
            <hardwareInterface>hardware_interface/EffortJointInterface</hardwareInterface>
            <mechanicalReduction>1</mechanicalReduction>
        </actuator>
    </transmission>
    <transmission name="trans_left_front_roller_4_joint">
        <type>transmission_interface/SimpleTransmission</type>
        <joint name="left_front_roller_4_joint">
            <hardwareInterface>hardware_interface/EffortJointInterface</hardwareInterface>
        </joint>
        <actuator name="left_front_roller_4_joint_motor">
            <hardwareInterface>hardware_interface/EffortJointInterface</hardwareInterface>
            <mechanicalReduction>1</mechanicalReduction>
        </actuator>
    </transmission>
    <transmission name="trans_left_front_roller_5_joint">
        <type>transmission_interface/SimpleTransmission</type>
        <joint name="left_front_roller_5_joint">
            <hardwareInterface>hardware_interface/EffortJointInterface</hardwareInterface>
        </joint>
        <actuator name="left_front_roller_5_joint_motor">
            <hardwareInterface>hardware_interface/EffortJointInterface</hardwareInterface>
            <mechanicalReduction>1</mechanicalReduction>
        </actuator>
    </transmission>
    <transmission name="trans_left_front_roller_6_joint">
        <type>transmission_interface/SimpleTransmission</type>
        <joint name="left_front_roller_6_joint">
            <hardwareInterface>hardware_interface/EffortJointInterface</hardwareInterface>
        </joint>
        <actuator name="left_front_roller_6_joint_motor">
            <hardwareInterface>hardware_interface/EffortJointInterface</hardwareInterface>
            <mechanicalReduction>1</mechanicalReduction>
        </actuator>
    </transmission>
    <transmission name="trans_left_front_roller_7_joint">
        <type>transmission_interface/SimpleTransmission</type>
        <joint name="left_front_roller_7_joint">
            <hardwareInterface>hardware_interface/EffortJointInterface</hardwareInterface>
        </joint>
        <actuator name="left_front_roller_7_joint_motor">
            <hardwareInterface>hardware_interface/EffortJointInterface</hardwareInterface>
            <mechanicalReduction>1</mechanicalReduction>
        </actuator>
    </transmission>
    <transmission name="trans_left_front_roller_8_joint">
        <type>transmission_interface/SimpleTransmission</type>
        <joint name="left_front_roller_8_joint">
            <hardwareInterface>hardware_interface/EffortJointInterface</hardwareInterface>
        </joint>
        <actuator name="left_front_roller_8_joint_motor">
            <hardwareInterface>hardware_interface/EffortJointInterface</hardwareInterface>
            <mechanicalReduction>1</mechanicalReduction>
        </actuator>
    </transmission>
    <transmission name="trans_left_front_roller_9_joint">
        <type>transmission_interface/SimpleTransmission</type>
        <joint name="left_front_roller_9_joint">
            <hardwareInterface>hardware_interface/EffortJointInterface</hardwareInterface>
        </joint>
        <actuator name="left_front_roller_9_joint_motor">
            <hardwareInterface>hardware_interface/EffortJointInterface</hardwareInterface>
            <mechanicalReduction>1</mechanicalReduction>
        </actuator>
    </transmission>
    <transmission name="trans_left_front_roller_10_joint">
        <type>transmission_interface/SimpleTransmission</type>
        <joint name="left_front_roller_10_joint">
            <hardwareInterface>hardware_interface/EffortJointInterface</hardwareInterface>
        </joint>
        <actuator name="left_front_roller_10_joint_motor">
            <hardwareInterface>hardware_interface/EffortJointInterface</hardwareInterface>
            <mechanicalReduction>1</mechanicalReduction>
        </actuator>
    </transmission>
    <transmission name="trans_left_front_roller_11_joint">
        <type>transmission_interface/SimpleTransmission</type>
        <joint name="left_front_roller_11_joint">
            <hardwareInterface>hardware_interface/EffortJointInterface</hardwareInterface>
        </joint>
        <actuator name="left_front_roller_11_joint_motor">
            <hardwareInterface>hardware_interface/EffortJointInterface</hardwareInterface>
            <mechanicalReduction>1</mechanicalReduction>
        </actuator>
    </transmission>
    <transmission name="trans_left_front_roller_12_joint">
        <type>transmission_interface/SimpleTransmission</type>
        <joint name="left_front_roller_12_joint">
            <hardwareInterface>hardware_interface/EffortJointInterface</hardwareInterface>
        </joint>
        <actuator name="left_front_roller_12_joint_motor">
            <hardwareInterface>hardware_interface/EffortJointInterface</hardwareInterface>
            <mechanicalReduction>1</mechanicalReduction>
        </actuator>
    </transmission>
    <transmission name="trans_left_front_roller_13_joint">
        <type>transmission_interface/SimpleTransmission</type>
        <joint name="left_front_roller_13_joint">
            <hardwareInterface>hardware_interface/EffortJointInterface</hardwareInterface>
        </joint>
        <actuator name="left_front_roller_13_joint_motor">
            <hardwareInterface>hardware_interface/EffortJointInterface</hardwareInterface>
            <mechanicalReduction>1</mechanicalReduction>
        </actuator>
    </transmission>
    <transmission name="trans_left_front_roller_14_joint">
        <type>transmission_interface/SimpleTransmission</type>
        <joint name="left_front_roller_14_joint">
            <hardwareInterface>hardware_interface/EffortJointInterface</hardwareInterface>
        </joint>
        <actuator name="left_front_roller_14_joint_motor">
            <hardwareInterface>hardware_interface/EffortJointInterface</hardwareInterface>
            <mechanicalReduction>1</mechanicalReduction>
        </actuator>
    </transmission>
    <transmission name="trans_left_front_roller_15_joint">
        <type>transmission_interface/SimpleTransmission</type>
        <joint name="left_front_roller_15_joint">
            <hardwareInterface>hardware_interface/EffortJointInterface</hardwareInterface>
        </joint>
        <actuator name="left_front_roller_15_joint_motor">
            <hardwareInterface>hardware_interface/EffortJointInterface</hardwareInterface>
            <mechanicalReduction>1</mechanicalReduction>
        </actuator>
    </transmission>
    <transmission name="trans_right_front_roller_0_joint">
        <type>transmission_interface/SimpleTransmission</type>
        <joint name="right_front_roller_0_joint">
            <hardwareInterface>hardware_interface/EffortJointInterface</hardwareInterface>
        </joint>
        <actuator name="right_front_roller_0_joint_motor">
            <hardwareInterface>hardware_interface/EffortJointInterface</hardwareInterface>
            <mechanicalReduction>1</mechanicalReduction>
        </actuator>
    </transmission>
    <transmission name="trans_right_front_roller_1_joint">
        <type>transmission_interface/SimpleTransmission</type>
        <joint name="right_front_roller_1_joint">
            <hardwareInterface>hardware_interface/EffortJointInterface</hardwareInterface>
        </joint>
        <actuator name="right_front_roller_1_joint_motor">
            <hardwareInterface>hardware_interface/EffortJointInterface</hardwareInterface>
            <mechanicalReduction>1</mechanicalReduction>
        </actuator>
    </transmission>
    <transmission name="trans_right_front_roller_2_joint">
        <type>transmission_interface/SimpleTransmission</type>
        <joint name="right_front_roller_2_joint">
            <hardwareInterface>hardware_interface/EffortJointInterface</hardwareInterface>
        </joint>
        <actuator name="right_front_roller_2_joint_motor">
            <hardwareInterface>hardware_interface/EffortJointInterface</hardwareInterface>
            <mechanicalReduction>1</mechanicalReduction>
        </actuator>
    </transmission>
    <transmission name="trans_right_front_roller_3_joint">
        <type>transmission_interface/SimpleTransmission</type>
        <joint name="right_front_roller_3_joint">
            <hardwareInterface>hardware_interface/EffortJointInterface</hardwareInterface>
        </joint>
        <actuator name="right_front_roller_3_joint_motor">
            <hardwareInterface>hardware_interface/EffortJointInterface</hardwareInterface>
            <mechanicalReduction>1</mechanicalReduction>
        </actuator>
    </transmission>
    <transmission name="trans_right_front_roller_4_joint">
        <type>transmission_interface/SimpleTransmission</type>
        <joint name="right_front_roller_4_joint">
            <hardwareInterface>hardware_interface/EffortJointInterface</hardwareInterface>
        </joint>
        <actuator name="right_front_roller_4_joint_motor">
            <hardwareInterface>hardware_interface/EffortJointInterface</hardwareInterface>
            <mechanicalReduction>1</mechanicalReduction>
        </actuator>
    </transmission>
    <transmission name="trans_right_front_roller_5_joint">
        <type>transmission_interface/SimpleTransmission</type>
        <joint name="right_front_roller_5_joint">
            <hardwareInterface>hardware_interface/EffortJointInterface</hardwareInterface>
        </joint>
        <actuator name="right_front_roller_5_joint_motor">
            <hardwareInterface>hardware_interface/EffortJointInterface</hardwareInterface>
            <mechanicalReduction>1</mechanicalReduction>
        </actuator>
    </transmission>
    <transmission name="trans_right_front_roller_6_joint">
        <type>transmission_interface/SimpleTransmission</type>
        <joint name="right_front_roller_6_joint">
            <hardwareInterface>hardware_interface/EffortJointInterface</hardwareInterface>
        </joint>
        <actuator name="right_front_roller_6_joint_motor">
            <hardwareInterface>hardware_interface/EffortJointInterface</hardwareInterface>
            <mechanicalReduction>1</mechanicalReduction>
        </actuator>
    </transmission>
    <transmission name="trans_right_front_roller_7_joint">
        <type>transmission_interface/SimpleTransmission</type>
        <joint name="right_front_roller_7_joint">
            <hardwareInterface>hardware_interface/EffortJointInterface</hardwareInterface>
        </joint>
        <actuator name="right_front_roller_7_joint_motor">
            <hardwareInterface>hardware_interface/EffortJointInterface</hardwareInterface>
            <mechanicalReduction>1</mechanicalReduction>
        </actuator>
    </transmission>
    <transmission name="trans_right_front_roller_8_joint">
        <type>transmission_interface/SimpleTransmission</type>
        <joint name="right_front_roller_8_joint">
            <hardwareInterface>hardware_interface/EffortJointInterface</hardwareInterface>
        </joint>
        <actuator name="right_front_roller_8_joint_motor">
            <hardwareInterface>hardware_interface/EffortJointInterface</hardwareInterface>
            <mechanicalReduction>1</mechanicalReduction>
        </actuator>
    </transmission>
    <transmission name="trans_right_front_roller_9_joint">
        <type>transmission_interface/SimpleTransmission</type>
        <joint name="right_front_roller_9_joint">
            <hardwareInterface>hardware_interface/EffortJointInterface</hardwareInterface>
        </joint>
        <actuator name="right_front_roller_9_joint_motor">
            <hardwareInterface>hardware_interface/EffortJointInterface</hardwareInterface>
            <mechanicalReduction>1</mechanicalReduction>
        </actuator>
    </transmission>
    <transmission name="trans_right_front_roller_10_joint">
        <type>transmission_interface/SimpleTransmission</type>
        <joint name="right_front_roller_10_joint">
            <hardwareInterface>hardware_interface/EffortJointInterface</hardwareInterface>
        </joint>
        <actuator name="right_front_roller_10_joint_motor">
            <hardwareInterface>hardware_interface/EffortJointInterface</hardwareInterface>
            <mechanicalReduction>1</mechanicalReduction>
        </actuator>
    </transmission>
    <transmission name="trans_right_front_roller_11_joint">
        <type>transmission_interface/SimpleTransmission</type>
        <joint name="right_front_roller_11_joint">
            <hardwareInterface>hardware_interface/EffortJointInterface</hardwareInterface>
        </joint>
        <actuator name="right_front_roller_11_joint_motor">
            <hardwareInterface>hardware_interface/EffortJointInterface</hardwareInterface>
            <mechanicalReduction>1</mechanicalReduction>
        </actuator>
    </transmission>
    <transmission name="trans_right_front_roller_12_joint">
        <type>transmission_interface/SimpleTransmission</type>
        <joint name="right_front_roller_12_joint">
            <hardwareInterface>hardware_interface/EffortJointInterface</hardwareInterface>
        </joint>
        <actuator name="right_front_roller_12_joint_motor">
            <hardwareInterface>hardware_interface/EffortJointInterface</hardwareInterface>
            <mechanicalReduction>1</mechanicalReduction>
        </actuator>
    </transmission>
    <transmission name="trans_right_front_roller_13_joint">
        <type>transmission_interface/SimpleTransmission</type>
        <joint name="right_front_roller_13_joint">
            <hardwareInterface>hardware_interface/EffortJointInterface</hardwareInterface>
        </joint>
        <actuator name="right_front_roller_13_joint_motor">
            <hardwareInterface>hardware_interface/EffortJointInterface</hardwareInterface>
            <mechanicalReduction>1</mechanicalReduction>
        </actuator>
    </transmission>
    <transmission name="trans_right_front_roller_14_joint">
        <type>transmission_interface/SimpleTransmission</type>
        <joint name="right_front_roller_14_joint">
            <hardwareInterface>hardware_interface/EffortJointInterface</hardwareInterface>
        </joint>
        <actuator name="right_front_roller_14_joint_motor">
            <hardwareInterface>hardware_interface/EffortJointInterface</hardwareInterface>
            <mechanicalReduction>1</mechanicalReduction>
        </actuator>
    </transmission>
    <transmission name="trans_right_front_roller_15_joint">
        <type>transmission_interface/SimpleTransmission</type>
        <joint name="right_front_roller_15_joint">
            <hardwareInterface>hardware_interface/EffortJointInterface</hardwareInterface>
        </joint>
        <actuator name="right_front_roller_15_joint_motor">
            <hardwareInterface>hardware_interface/EffortJointInterface</hardwareInterface>
            <mechanicalReduction>1</mechanicalReduction>
        </actuator>
    </transmission>
    <transmission name="trans_left_back_roller_0_joint">
        <type>transmission_interface/SimpleTransmission</type>
        <joint name="left_back_roller_0_joint">
            <hardwareInterface>hardware_interface/EffortJointInterface</hardwareInterface>
        </joint>
        <actuator name="left_back_roller_0_joint_motor">
            <hardwareInterface>hardware_interface/EffortJointInterface</hardwareInterface>
            <mechanicalReduction>1</mechanicalReduction>
        </actuator>
    </transmission>
    <transmission name="trans_left_back_roller_1_joint">
        <type>transmission_interface/SimpleTransmission</type>
        <joint name="left_back_roller_1_joint">
            <hardwareInterface>hardware_interface/EffortJointInterface</hardwareInterface>
        </joint>
        <actuator name="left_back_roller_1_joint_motor">
            <hardwareInterface>hardware_interface/EffortJointInterface</hardwareInterface>
            <mechanicalReduction>1</mechanicalReduction>
        </actuator>
    </transmission>
    <transmission name="trans_left_back_roller_2_joint">
        <type>transmission_interface/SimpleTransmission</type>
        <joint name="left_back_roller_2_joint">
            <hardwareInterface>hardware_interface/EffortJointInterface</hardwareInterface>
        </joint>
        <actuator name="left_back_roller_2_joint_motor">
            <hardwareInterface>hardware_interface/EffortJointInterface</hardwareInterface>
            <mechanicalReduction>1</mechanicalReduction>
        </actuator>
    </transmission>
    <transmission name="trans_left_back_roller_3_joint">
        <type>transmission_interface/SimpleTransmission</type>
        <joint name="left_back_roller_3_joint">
            <hardwareInterface>hardware_interface/EffortJointInterface</hardwareInterface>
        </joint>
        <actuator name="left_back_roller_3_joint_motor">
            <hardwareInterface>hardware_interface/EffortJointInterface</hardwareInterface>
            <mechanicalReduction>1</mechanicalReduction>
        </actuator>
    </transmission>
    <transmission name="trans_left_back_roller_4_joint">
        <type>transmission_interface/SimpleTransmission</type>
        <joint name="left_back_roller_4_joint">
            <hardwareInterface>hardware_interface/EffortJointInterface</hardwareInterface>
        </joint>
        <actuator name="left_back_roller_4_joint_motor">
            <hardwareInterface>hardware_interface/EffortJointInterface</hardwareInterface>
            <mechanicalReduction>1</mechanicalReduction>
        </actuator>
    </transmission>
    <transmission name="trans_left_back_roller_5_joint">
        <type>transmission_interface/SimpleTransmission</type>
        <joint name="left_back_roller_5_joint">
            <hardwareInterface>hardware_interface/EffortJointInterface</hardwareInterface>
        </joint>
        <actuator name="left_back_roller_5_joint_motor">
            <hardwareInterface>hardware_interface/EffortJointInterface</hardwareInterface>
            <mechanicalReduction>1</mechanicalReduction>
        </actuator>
    </transmission>
    <transmission name="trans_left_back_roller_6_joint">
        <type>transmission_interface/SimpleTransmission</type>
        <joint name="left_back_roller_6_joint">
            <hardwareInterface>hardware_interface/EffortJointInterface</hardwareInterface>
        </joint>
        <actuator name="left_back_roller_6_joint_motor">
            <hardwareInterface>hardware_interface/EffortJointInterface</hardwareInterface>
            <mechanicalReduction>1</mechanicalReduction>
        </actuator>
    </transmission>
    <transmission name="trans_left_back_roller_7_joint">
        <type>transmission_interface/SimpleTransmission</type>
        <joint name="left_back_roller_7_joint">
            <hardwareInterface>hardware_interface/EffortJointInterface</hardwareInterface>
        </joint>
        <actuator name="left_back_roller_7_joint_motor">
            <hardwareInterface>hardware_interface/EffortJointInterface</hardwareInterface>
            <mechanicalReduction>1</mechanicalReduction>
        </actuator>
    </transmission>
    <transmission name="trans_left_back_roller_8_joint">
        <type>transmission_interface/SimpleTransmission</type>
        <joint name="left_back_roller_8_joint">
            <hardwareInterface>hardware_interface/EffortJointInterface</hardwareInterface>
        </joint>
        <actuator name="left_back_roller_8_joint_motor">
            <hardwareInterface>hardware_interface/EffortJointInterface</hardwareInterface>
            <mechanicalReduction>1</mechanicalReduction>
        </actuator>
    </transmission>
    <transmission name="trans_left_back_roller_9_joint">
        <type>transmission_interface/SimpleTransmission</type>
        <joint name="left_back_roller_9_joint">
            <hardwareInterface>hardware_interface/EffortJointInterface</hardwareInterface>
        </joint>
        <actuator name="left_back_roller_9_joint_motor">
            <hardwareInterface>hardware_interface/EffortJointInterface</hardwareInterface>
            <mechanicalReduction>1</mechanicalReduction>
        </actuator>
    </transmission>
    <transmission name="trans_left_back_roller_10_joint">
        <type>transmission_interface/SimpleTransmission</type>
        <joint name="left_back_roller_10_joint">
            <hardwareInterface>hardware_interface/EffortJointInterface</hardwareInterface>
        </joint>
        <actuator name="left_back_roller_10_joint_motor">
            <hardwareInterface>hardware_interface/EffortJointInterface</hardwareInterface>
            <mechanicalReduction>1</mechanicalReduction>
        </actuator>
    </transmission>
    <transmission name="trans_left_back_roller_11_joint">
        <type>transmission_interface/SimpleTransmission</type>
        <joint name="left_back_roller_11_joint">
            <hardwareInterface>hardware_interface/EffortJointInterface</hardwareInterface>
        </joint>
        <actuator name="left_back_roller_11_joint_motor">
            <hardwareInterface>hardware_interface/EffortJointInterface</hardwareInterface>
            <mechanicalReduction>1</mechanicalReduction>
        </actuator>
    </transmission>
    <transmission name="trans_left_back_roller_12_joint">
        <type>transmission_interface/SimpleTransmission</type>
        <joint name="left_back_roller_12_joint">
            <hardwareInterface>hardware_interface/EffortJointInterface</hardwareInterface>
        </joint>
        <actuator name="left_back_roller_12_joint_motor">
            <hardwareInterface>hardware_interface/EffortJointInterface</hardwareInterface>
            <mechanicalReduction>1</mechanicalReduction>
        </actuator>
    </transmission>
    <transmission name="trans_left_back_roller_13_joint">
        <type>transmission_interface/SimpleTransmission</type>
        <joint name="left_back_roller_13_joint">
            <hardwareInterface>hardware_interface/EffortJointInterface</hardwareInterface>
        </joint>
        <actuator name="left_back_roller_13_joint_motor">
            <hardwareInterface>hardware_interface/EffortJointInterface</hardwareInterface>
            <mechanicalReduction>1</mechanicalReduction>
        </actuator>
    </transmission>
    <transmission name="trans_left_back_roller_14_joint">
        <type>transmission_interface/SimpleTransmission</type>
        <joint name="left_back_roller_14_joint">
            <hardwareInterface>hardware_interface/EffortJointInterface</hardwareInterface>
        </joint>
        <actuator name="left_back_roller_14_joint_motor">
            <hardwareInterface>hardware_interface/EffortJointInterface</hardwareInterface>
            <mechanicalReduction>1</mechanicalReduction>
        </actuator>
    </transmission>
    <transmission name="trans_left_back_roller_15_joint">
        <type>transmission_interface/SimpleTransmission</type>
        <joint name="left_back_roller_15_joint">
            <hardwareInterface>hardware_interface/EffortJointInterface</hardwareInterface>
        </joint>
        <actuator name="left_back_roller_15_joint_motor">
            <hardwareInterface>hardware_interface/EffortJointInterface</hardwareInterface>
            <mechanicalReduction>1</mechanicalReduction>
        </actuator>
    </transmission>
    <transmission name="trans_right_back_roller_0_joint">
        <type>transmission_interface/SimpleTransmission</type>
        <joint name="right_back_roller_0_joint">
            <hardwareInterface>hardware_interface/EffortJointInterface</hardwareInterface>
        </joint>
        <actuator name="right_back_roller_0_joint_motor">
            <hardwareInterface>hardware_interface/EffortJointInterface</hardwareInterface>
            <mechanicalReduction>1</mechanicalReduction>
        </actuator>
    </transmission>
    <transmission name="trans_right_back_roller_1_joint">
        <type>transmission_interface/SimpleTransmission</type>
        <joint name="right_back_roller_1_joint">
            <hardwareInterface>hardware_interface/EffortJointInterface</hardwareInterface>
        </joint>
        <actuator name="right_back_roller_1_joint_motor">
            <hardwareInterface>hardware_interface/EffortJointInterface</hardwareInterface>
            <mechanicalReduction>1</mechanicalReduction>
        </actuator>
    </transmission>
    <transmission name="trans_right_back_roller_2_joint">
        <type>transmission_interface/SimpleTransmission</type>
        <joint name="right_back_roller_2_joint">
            <hardwareInterface>hardware_interface/EffortJointInterface</hardwareInterface>
        </joint>
        <actuator name="right_back_roller_2_joint_motor">
            <hardwareInterface>hardware_interface/EffortJointInterface</hardwareInterface>
            <mechanicalReduction>1</mechanicalReduction>
        </actuator>
    </transmission>
    <transmission name="trans_right_back_roller_3_joint">
        <type>transmission_interface/SimpleTransmission</type>
        <joint name="right_back_roller_3_joint">
            <hardwareInterface>hardware_interface/EffortJointInterface</hardwareInterface>
        </joint>
        <actuator name="right_back_roller_3_joint_motor">
            <hardwareInterface>hardware_interface/EffortJointInterface</hardwareInterface>
            <mechanicalReduction>1</mechanicalReduction>
        </actuator>
    </transmission>
    <transmission name="trans_right_back_roller_4_joint">
        <type>transmission_interface/SimpleTransmission</type>
        <joint name="right_back_roller_4_joint">
            <hardwareInterface>hardware_interface/EffortJointInterface</hardwareInterface>
        </joint>
        <actuator name="right_back_roller_4_joint_motor">
            <hardwareInterface>hardware_interface/EffortJointInterface</hardwareInterface>
            <mechanicalReduction>1</mechanicalReduction>
        </actuator>
    </transmission>
    <transmission name="trans_right_back_roller_5_joint">
        <type>transmission_interface/SimpleTransmission</type>
        <joint name="right_back_roller_5_joint">
            <hardwareInterface>hardware_interface/EffortJointInterface</hardwareInterface>
        </joint>
        <actuator name="right_back_roller_5_joint_motor">
            <hardwareInterface>hardware_interface/EffortJointInterface</hardwareInterface>
            <mechanicalReduction>1</mechanicalReduction>
        </actuator>
    </transmission>
    <transmission name="trans_right_back_roller_6_joint">
        <type>transmission_interface/SimpleTransmission</type>
        <joint name="right_back_roller_6_joint">
            <hardwareInterface>hardware_interface/EffortJointInterface</hardwareInterface>
        </joint>
        <actuator name="right_back_roller_6_joint_motor">
            <hardwareInterface>hardware_interface/EffortJointInterface</hardwareInterface>
            <mechanicalReduction>1</mechanicalReduction>
        </actuator>
    </transmission>
    <transmission name="trans_right_back_roller_7_joint">
        <type>transmission_interface/SimpleTransmission</type>
        <joint name="right_back_roller_7_joint">
            <hardwareInterface>hardware_interface/EffortJointInterface</hardwareInterface>
        </joint>
        <actuator name="right_back_roller_7_joint_motor">
            <hardwareInterface>hardware_interface/EffortJointInterface</hardwareInterface>
            <mechanicalReduction>1</mechanicalReduction>
        </actuator>
    </transmission>
    <transmission name="trans_right_back_roller_8_joint">
        <type>transmission_interface/SimpleTransmission</type>
        <joint name="right_back_roller_8_joint">
            <hardwareInterface>hardware_interface/EffortJointInterface</hardwareInterface>
        </joint>
        <actuator name="right_back_roller_8_joint_motor">
            <hardwareInterface>hardware_interface/EffortJointInterface</hardwareInterface>
            <mechanicalReduction>1</mechanicalReduction>
        </actuator>
    </transmission>
    <transmission name="trans_right_back_roller_9_joint">
        <type>transmission_interface/SimpleTransmission</type>
        <joint name="right_back_roller_9_joint">
            <hardwareInterface>hardware_interface/EffortJointInterface</hardwareInterface>
        </joint>
        <actuator name="right_back_roller_9_joint_motor">
            <hardwareInterface>hardware_interface/EffortJointInterface</hardwareInterface>
            <mechanicalReduction>1</mechanicalReduction>
        </actuator>
    </transmission>
    <transmission name="trans_right_back_roller_10_joint">
        <type>transmission_interface/SimpleTransmission</type>
        <joint name="right_back_roller_10_joint">
            <hardwareInterface>hardware_interface/EffortJointInterface</hardwareInterface>
        </joint>
        <actuator name="right_back_roller_10_joint_motor">
            <hardwareInterface>hardware_interface/EffortJointInterface</hardwareInterface>
            <mechanicalReduction>1</mechanicalReduction>
        </actuator>
    </transmission>
    <transmission name="trans_right_back_roller_11_joint">
        <type>transmission_interface/SimpleTransmission</type>
        <joint name="right_back_roller_11_joint">
            <hardwareInterface>hardware_interface/EffortJointInterface</hardwareInterface>
        </joint>
        <actuator name="right_back_roller_11_joint_motor">
            <hardwareInterface>hardware_interface/EffortJointInterface</hardwareInterface>
            <mechanicalReduction>1</mechanicalReduction>
        </actuator>
    </transmission>
    <transmission name="trans_right_back_roller_12_joint">
        <type>transmission_interface/SimpleTransmission</type>
        <joint name="right_back_roller_12_joint">
            <hardwareInterface>hardware_interface/EffortJointInterface</hardwareInterface>
        </joint>
        <actuator name="right_back_roller_12_joint_motor">
            <hardwareInterface>hardware_interface/EffortJointInterface</hardwareInterface>
            <mechanicalReduction>1</mechanicalReduction>
        </actuator>
    </transmission>
    <transmission name="trans_right_back_roller_13_joint">
        <type>transmission_interface/SimpleTransmission</type>
        <joint name="right_back_roller_13_joint">
            <hardwareInterface>hardware_interface/EffortJointInterface</hardwareInterface>
        </joint>
        <actuator name="right_back_roller_13_joint_motor">
            <hardwareInterface>hardware_interface/EffortJointInterface</hardwareInterface>
            <mechanicalReduction>1</mechanicalReduction>
        </actuator>
    </transmission>
    <transmission name="trans_right_back_roller_14_joint">
        <type>transmission_interface/SimpleTransmission</type>
        <joint name="right_back_roller_14_joint">
            <hardwareInterface>hardware_interface/EffortJointInterface</hardwareInterface>
        </joint>
        <actuator name="right_back_roller_14_joint_motor">
            <hardwareInterface>hardware_interface/EffortJointInterface</hardwareInterface>
            <mechanicalReduction>1</mechanicalReduction>
        </actuator>
    </transmission>
    <transmission name="trans_right_back_roller_15_joint">
        <type>transmission_interface/SimpleTransmission</type>
        <joint name="right_back_roller_15_joint">
            <hardwareInterface>hardware_interface/EffortJointInterface</hardwareInterface>
        </joint>
        <actuator name="right_back_roller_15_joint_motor">
            <hardwareInterface>hardware_interface/EffortJointInterface</hardwareInterface>
            <mechanicalReduction>1</mechanicalReduction>
        </actuator>
    </transmission>
</robot>
